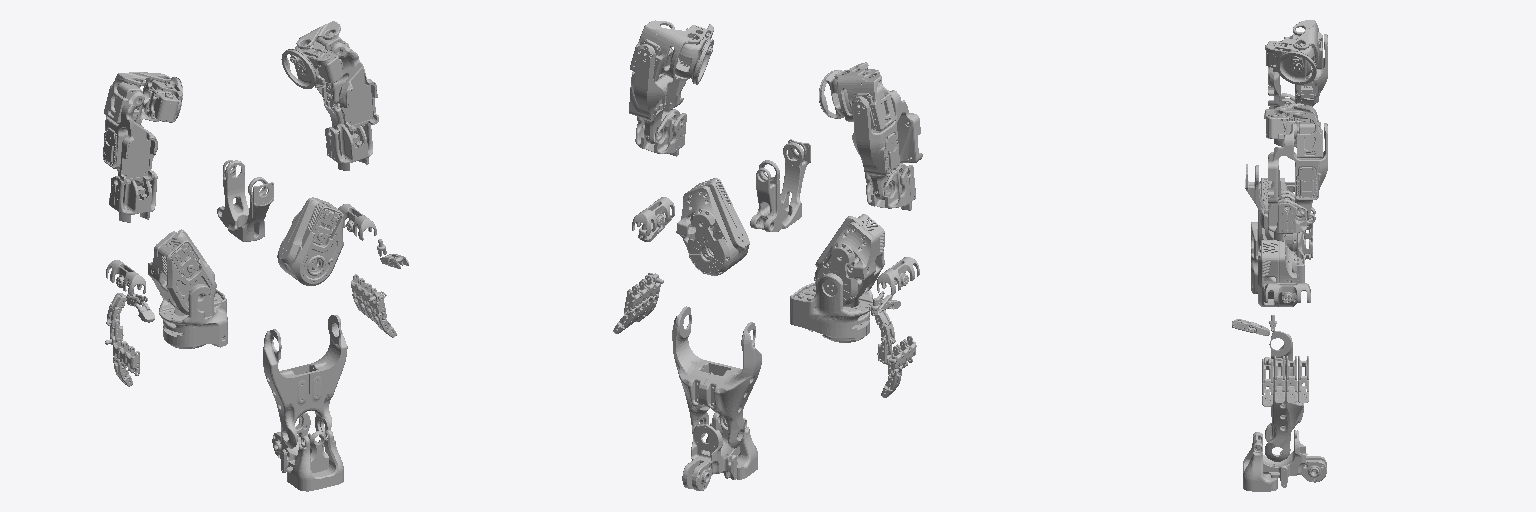
--- Render facts (derived) ---
The picture shows the robot from 3 angles, left to right: view 1: azimuth 30°, elevation 25°; view 2: azimuth 150°, elevation 25°; view 3: azimuth 270°, elevation 25°; orthographic projection.
Model CLOVIS25_URDF_Assembly_V1_With_Arms with 56 links and 55 joints (54 revolute, 1 fixed), rooted at base_link_R0_HipsWaist_Yaw, posed every joint at zero.
Links seen in each view (by area): view 1: Link13_AxisRy_Knee_Flexion, Link10_AxisRy_Hips_Flexion, Link15_AxisRx_Ankle_Abduction, Link20_AxisRy_Hips_Flexion, Link21_AxisRx_Hips_Abduction, Link42_AxisRx_Shoulder_Abduction, Link32_AxisRx_Shoulder_Abduction, LinkR0_AxisRz_Waist_Yaw, Link30_AxisRy_Shoulder_Flexion, Link33_AxisRy_Elbow_Flexion, Link43_AxisRy_Elbow_Flexion, Link41_AxisRz_Shoulder_Rotation (+4 smaller); view 2: Link13_AxisRy_Knee_Flexion, Link10_AxisRy_Hips_Flexion, Link42_AxisRx_Shoulder_Abduction, Link20_AxisRy_Hips_Flexion, Link21_AxisRx_Hips_Abduction, Link15_AxisRx_Ankle_Abduction, LinkR0_AxisRz_Waist_Yaw, Link32_AxisRx_Shoulder_Abduction, Link41_AxisRz_Shoulder_Rotation, Link31_AxisRz_Shoulder_Rotation, Link33_AxisRy_Elbow_Flexion, Link43_AxisRy_Elbow_Flexion (+4 smaller); view 3: Link15_AxisRx_Ankle_Abduction, Link32_AxisRx_Shoulder_Abduction, Link13_AxisRy_Knee_Flexion, Link10_AxisRy_Hips_Flexion, Link40_AxisRy_Shoulder_Flexion, Link42_AxisRx_Shoulder_Abduction, Link33_AxisRy_Elbow_Flexion, Link31_AxisRz_Shoulder_Rotation, Link30_AxisRy_Shoulder_Flexion, Link21_AxisRx_Hips_Abduction, Link41_AxisRz_Shoulder_Rotation, Link20_AxisRy_Hips_Flexion (+2 smaller).
Link boxes in pixels (x1=…): Link13_AxisRy_Knee_Flexion: x1=263, y1=315, x2=347, y2=448; Link10_AxisRy_Hips_Flexion: x1=277, y1=197, x2=343, y2=285; Link15_AxisRx_Ankle_Abduction: x1=272, y1=412, x2=343, y2=491; Link20_AxisRy_Hips_Flexion: x1=148, y1=229, x2=216, y2=314; Link21_AxisRx_Hips_Abduction: x1=159, y1=284, x2=227, y2=348; Link42_AxisRx_Shoulder_Abduction: x1=103, y1=82, x2=157, y2=185; Link32_AxisRx_Shoulder_Abduction: x1=315, y1=42, x2=378, y2=134; LinkR0_AxisRz_Waist_Yaw: x1=217, y1=160, x2=273, y2=241; Link30_AxisRy_Shoulder_Flexion: x1=281, y1=41, x2=343, y2=88; Link33_AxisRy_Elbow_Flexion: x1=325, y1=123, x2=372, y2=170; Link43_AxisRy_Elbow_Flexion: x1=109, y1=171, x2=157, y2=222; Link41_AxisRz_Shoulder_Rotation: x1=104, y1=72, x2=170, y2=124; Link13_AxisRy_Knee_Flexion: x1=672, y1=306, x2=761, y2=448; Link10_AxisRy_Hips_Flexion: x1=676, y1=178, x2=749, y2=275; Link42_AxisRx_Shoulder_Abduction: x1=852, y1=83, x2=922, y2=199; Link20_AxisRy_Hips_Flexion: x1=814, y1=214, x2=884, y2=306; Link21_AxisRx_Hips_Abduction: x1=790, y1=273, x2=872, y2=342; Link15_AxisRx_Ankle_Abduction: x1=682, y1=412, x2=757, y2=490; LinkR0_AxisRz_Waist_Yaw: x1=750, y1=139, x2=810, y2=231; Link32_AxisRx_Shoulder_Abduction: x1=629, y1=44, x2=685, y2=143; Link41_AxisRz_Shoulder_Rotation: x1=834, y1=70, x2=895, y2=130; Link31_AxisRz_Shoulder_Rotation: x1=630, y1=20, x2=700, y2=81; Link33_AxisRy_Elbow_Flexion: x1=635, y1=109, x2=686, y2=156; Link43_AxisRy_Elbow_Flexion: x1=865, y1=163, x2=915, y2=210; Link15_AxisRx_Ankle_Abduction: x1=1243, y1=430, x2=1326, y2=491; Link32_AxisRx_Shoulder_Abduction: x1=1268, y1=123, x2=1327, y2=219; Link13_AxisRy_Knee_Flexion: x1=1265, y1=331, x2=1303, y2=461; Link10_AxisRy_Hips_Flexion: x1=1258, y1=239, x2=1296, y2=306; Link40_AxisRy_Shoulder_Flexion: x1=1265, y1=39, x2=1316, y2=84; Link42_AxisRx_Shoulder_Abduction: x1=1268, y1=34, x2=1327, y2=108; Link33_AxisRy_Elbow_Flexion: x1=1264, y1=190, x2=1306, y2=241; Link31_AxisRz_Shoulder_Rotation: x1=1293, y1=105, x2=1322, y2=157; Link30_AxisRy_Shoulder_Flexion: x1=1265, y1=103, x2=1309, y2=143; Link21_AxisRx_Hips_Abduction: x1=1251, y1=222, x2=1304, y2=293; Link41_AxisRz_Shoulder_Rotation: x1=1293, y1=20, x2=1322, y2=77; Link20_AxisRy_Hips_Flexion: x1=1258, y1=178, x2=1296, y2=252.
Size in the robot's own frame: 0.423 by 0.1447 by 0.6374 metres.
40 mesh visuals loaded from 56 distinct referenced files (40 binary STL); not drawn: 16 (reference not matched to a file when rendering).

robot.urdf — CLOVIS25_URDF_Assembly_V1_With_Arms:
<?xml version="1.0" encoding="utf-8"?>
<!-- This URDF was automatically created by SolidWorks to URDF Exporter! Originally created by Stephen Brawner ([email redacted]) 
     Commit Version: 1.6.0-4-g7f85cfe  Build Version: 1.6.7995.38578
     For more information, please see http://wiki.ros.org/sw_urdf_exporter -->
<robot
  name="CLOVIS25_URDF_Assembly_V1_With_Arms">
  <link
    name="base_link_R0_HipsWaist_Yaw">
    <inertial>
      <origin
        xyz="-5.06849795024474E-07 0.00646210878121356 -0.00735619477677179"
        rpy="0 0 0" />
      <mass
        value="0.387437520077023" />
      <inertia
        ixx="0.000602004181073715"
        ixy="-3.93523719188462E-09"
        ixz="8.4131146427588E-09"
        iyy="0.00055466319918311"
        iyz="0.000144231027663687"
        izz="0.00059139342226567" />
    </inertial>
    <visual>
      <origin
        xyz="0 0 0"
        rpy="0 0 0" />
      <geometry>
        <mesh
          filename="package://CLOVIS25_URDF_Assembly_V1_With_Arms/meshes/base_link_R0_HipsWaist_Yaw.STL" />
      </geometry>
      <material
        name="">
        <color
          rgba="0.752941176470588 0.752941176470588 0.752941176470588 1" />
      </material>
    </visual>
    <collision>
      <origin
        xyz="0 0 0"
        rpy="0 0 0" />
      <geometry>
        <mesh
          filename="package://CLOVIS25_URDF_Assembly_V1_With_Arms/meshes/base_link_R0_HipsWaist_Yaw.STL" />
      </geometry>
    </collision>
  </link>
  <link
    name="LinkR0_AxisRz_Waist_Yaw">
    <inertial>
      <origin
        xyz="1.46812364558688E-08 0.00792255367963899 0.0328105533698633"
        rpy="0 0 0" />
      <mass
        value="0.0743770113903966" />
      <inertia
        ixx="0.000109844902331301"
        ixy="6.43572844078283E-11"
        ixz="1.80691197731371E-11"
        iyy="5.27744826789087E-05"
        iyz="8.66811215600059E-06"
        izz="6.86185978836166E-05" />
    </inertial>
    <visual>
      <origin
        xyz="0 0 0"
        rpy="0 0 0" />
      <geometry>
        <mesh
          filename="package://CLOVIS25_URDF_Assembly_V1_With_Arms/meshes/LinkR0_AxisRz_Waist_Yaw.STL" />
      </geometry>
      <material
        name="">
        <color
          rgba="0.752941176470588 0.752941176470588 0.752941176470588 1" />
      </material>
    </visual>
    <collision>
      <origin
        xyz="0 0 0"
        rpy="0 0 0" />
      <geometry>
        <mesh
          filename="package://CLOVIS25_URDF_Assembly_V1_With_Arms/meshes/LinkR0_AxisRz_Waist_Yaw.STL" />
      </geometry>
    </collision>
  </link>
  <joint
    name="R0_AxisRz_Waist_Yaw"
    type="revolute">
    <origin
      xyz="0 0 0"
      rpy="0 0 0" />
    <parent
      link="base_link_R0_HipsWaist_Yaw" />
    <child
      link="LinkR0_AxisRz_Waist_Yaw" />
    <axis
      xyz="0 0 1" />
    <limit
      lower="-0.611"
      upper="0.611"
      effort="3.66"
      velocity="5.05" />
  </joint>
  <link
    name="Link1_AxisRx_Abs_Roll">
    <inertial>
      <origin
        xyz="-0.000419037666758958 -8.6704448896009E-06 0.00334728947605598"
        rpy="0 0 0" />
      <mass
        value="0.0285702910432507" />
      <inertia
        ixx="7.08725803682832E-06"
        ixy="-2.4583009930987E-09"
        ixz="-4.77409616773001E-08"
        iyy="2.32521875946385E-05"
        iyz="-1.59332092975714E-09"
        izz="2.62164733137172E-05" />
    </inertial>
    <visual>
      <origin
        xyz="0 0 0"
        rpy="0 0 0" />
      <geometry>
        <mesh
          filename="package://CLOVIS25_URDF_Assembly_V1_With_Arms/meshes/Link1_AxisRx_Abs_Roll.STL" />
      </geometry>
      <material
        name="">
        <color
          rgba="0.698039215686274 0.698039215686274 0.698039215686274 1" />
      </material>
    </visual>
    <collision>
      <origin
        xyz="0 0 0"
        rpy="0 0 0" />
      <geometry>
        <mesh
          filename="package://CLOVIS25_URDF_Assembly_V1_With_Arms/meshes/Link1_AxisRx_Abs_Roll.STL" />
      </geometry>
    </collision>
  </link>
  <joint
    name="R1_AxisRx_Abs_Roll"
    type="revolute">
    <origin
      xyz="0 0 0.0830000000000002"
      rpy="0 0 1.5707963267949" />
    <parent
      link="LinkR0_AxisRz_Waist_Yaw" />
    <child
      link="Link1_AxisRx_Abs_Roll" />
    <axis
      xyz="-1 0 0" />
    <limit
      lower="-0.524"
      upper="0.524"
      effort="3.66"
      velocity="5.05" />
  </joint>
  <link
    name="Link2_AxisRy_Abs_Pitch">
    <inertial>
      <origin
        xyz="0.0116502060780708 0.000444779964340122 0.0990057210700123"
        rpy="0 0 0" />
      <mass
        value="1.76579053635958" />
      <inertia
        ixx="0.00272833882633648"
        ixy="-2.20597482402931E-07"
        ixz="8.18805229038268E-05"
        iyy="0.00286417553448298"
        iyz="4.10931314151063E-07"
        izz="0.00262213593870311" />
    </inertial>
    <visual>
      <origin
        xyz="0 0 0"
        rpy="0 0 0" />
      <geometry>
        <mesh
          filename="package://CLOVIS25_URDF_Assembly_V1_With_Arms/meshes/Link2_AxisRy_Abs_Pitch.STL" />
      </geometry>
      <material
        name="">
        <color
          rgba="0.752941176470588 0.752941176470588 0.752941176470588 1" />
      </material>
    </visual>
    <collision>
      <origin
        xyz="0 0 0"
        rpy="0 0 0" />
      <geometry>
        <mesh
          filename="package://CLOVIS25_URDF_Assembly_V1_With_Arms/meshes/Link2_AxisRy_Abs_Pitch.STL" />
      </geometry>
    </collision>
  </link>
  <joint
    name="R2_AxisRy_Abs_Pitch"
    type="revolute">
    <origin
      xyz="0 0 0"
      rpy="0 0 0" />
    <parent
      link="Link1_AxisRx_Abs_Roll" />
    <child
      link="Link2_AxisRy_Abs_Pitch" />
    <axis
      xyz="0 -1 0" />
    <limit
      lower="-0.689"
      upper="0.785"
      effort="3.66"
      velocity="5.05" />
  </joint>
  <link
    name="Link30_AxisRy_Shoulder_Flexion">
    <inertial>
      <origin
        xyz="-0.00121122068029511 -0.00325038069237409 0.01205449037587"
        rpy="0 0 0" />
      <mass
        value="0.0372580129564287" />
      <inertia
        ixx="1.59289940590296E-05"
        ixy="-1.20792454995667E-06"
        ixz="-4.7940507230333E-07"
        iyy="1.6393396994726E-05"
        iyz="-8.0278671679873E-07"
        izz="2.03149646905184E-05" />
    </inertial>
    <visual>
      <origin
        xyz="0 0 0"
        rpy="0 0 0" />
      <geometry>
        <mesh
          filename="package://CLOVIS25_URDF_Assembly_V1_With_Arms/meshes/Link30_AxisRy_Shoulder_Flexion.STL" />
      </geometry>
      <material
        name="">
        <color
          rgba="0.752941176470588 0.752941176470588 0.752941176470588 1" />
      </material>
    </visual>
    <collision>
      <origin
        xyz="0 0 0"
        rpy="0 0 0" />
      <geometry>
        <mesh
          filename="package://CLOVIS25_URDF_Assembly_V1_With_Arms/meshes/Link30_AxisRy_Shoulder_Flexion.STL" />
      </geometry>
    </collision>
  </link>
  <joint
    name="R30_AxisRy_Shoulder_Flexion"
    type="revolute">
    <origin
      xyz="0.0289259399205682 -0.101367916470833 0.130853241275273"
      rpy="-0.252680255142087 1.30019891167267 -1.5707963267949" />
    <parent
      link="Link2_AxisRy_Abs_Pitch" />
    <child
      link="Link30_AxisRy_Shoulder_Flexion" />
    <axis
      xyz="0 0 1" />
    <limit
      lower="0"
      upper="0"
      effort="0"
      velocity="0" />
  </joint>
  <link
    name="Link31_AxisRz_Shoulder_Rotation">
    <inertial>
      <origin
        xyz="0.0310376632963733 0.0149615998455135 -0.00284843103933208"
        rpy="0 0 0" />
      <mass
        value="0.0306387760752888" />
      <inertia
        ixx="1.91180450287481E-05"
        ixy="-2.81655737035407E-07"
        ixz="8.43328137709067E-07"
        iyy="2.64927352089561E-05"
        iyz="-1.49756484162896E-07"
        izz="1.4496990488765E-05" />
    </inertial>
    <visual>
      <origin
        xyz="0 0 0"
        rpy="0 0 0" />
      <geometry>
        <mesh
          filename="package://CLOVIS25_URDF_Assembly_V1_With_Arms/meshes/Link31_AxisRz_Shoulder_Rotation.STL" />
      </geometry>
      <material
        name="">
        <color
          rgba="0.752941176470588 0.752941176470588 0.752941176470588 1" />
      </material>
    </visual>
    <collision>
      <origin
        xyz="0 0 0"
        rpy="0 0 0" />
      <geometry>
        <mesh
          filename="package://CLOVIS25_URDF_Assembly_V1_With_Arms/meshes/Link31_AxisRz_Shoulder_Rotation.STL" />
      </geometry>
    </collision>
  </link>
  <joint
    name="R31_AxisRz_Shoulder_Rotation"
    type="revolute">
    <origin
      xyz="0 0 0.0185"
      rpy="1.5708 -1.3181 -1.5708" />
    <parent
      link="Link30_AxisRy_Shoulder_Flexion" />
    <child
      link="Link31_AxisRz_Shoulder_Rotation" />
    <axis
      xyz="0 0 -1" />
    <limit
      lower="0"
      upper="0"
      effort="0"
      velocity="0" />
  </joint>
  <link
    name="Link32_AxisRx_Shoulder_Abduction">
    <inertial>
      <origin
        xyz="0.0104532597532089 0.062163437123838 -0.0367102436834052"
        rpy="0 0 0" />
      <mass
        value="0.102687647828558" />
      <inertia
        ixx="0.000190390945399026"
        ixy="-3.56957903134248E-06"
        ixz="8.37982643800101E-06"
        iyy="8.95092176175717E-05"
        iyz="1.36359033600638E-05"
        izz="0.000128468014081588" />
    </inertial>
    <visual>
      <origin
        xyz="0 0 0"
        rpy="0 0 0" />
      <geometry>
        <mesh
          filename="package://CLOVIS25_URDF_Assembly_V1_With_Arms/meshes/Link32_AxisRx_Shoulder_Abduction.STL" />
      </geometry>
      <material
        name="">
        <color
          rgba="0.752941176470588 0.752941176470588 0.752941176470588 1" />
      </material>
    </visual>
    <collision>
      <origin
        xyz="0 0 0"
        rpy="0 0 0" />
      <geometry>
        <mesh
          filename="package://CLOVIS25_URDF_Assembly_V1_With_Arms/meshes/Link32_AxisRx_Shoulder_Abduction.STL" />
      </geometry>
    </collision>
  </link>
  <joint
    name="R32_AxisRx_Shoulder_Abduction"
    type="revolute">
    <origin
      xyz="0.04 0.035 -2.7028E-05"
      rpy="-1.5708 0.2706 0" />
    <parent
      link="Link31_AxisRz_Shoulder_Rotation" />
    <child
      link="Link32_AxisRx_Shoulder_Abduction" />
    <axis
      xyz="0 0 -1" />
    <limit
      lower="0"
      upper="0"
      effort="0"
      velocity="0" />
  </joint>
  <link
    name="Link33_AxisRy_Elbow_Flexion">
    <inertial>
      <origin
        xyz="-0.00807277244123876 -0.0218914344069931 2.79389832824606E-07"
        rpy="0 0 0" />
      <mass
        value="0.062525137315617" />
      <inertia
        ixx="2.66478352150102E-05"
        ixy="6.31835903644819E-07"
        ixz="-3.71122215374951E-11"
        iyy="2.90857173843087E-05"
        iyz="-2.29744106491836E-10"
        izz="2.16871210520696E-05" />
    </inertial>
    <visual>
      <origin
        xyz="0 0 0"
        rpy="0 0 0" />
      <geometry>
        <mesh
          filename="package://CLOVIS25_URDF_Assembly_V1_With_Arms/meshes/Link33_AxisRy_Elbow_Flexion.STL" />
      </geometry>
      <material
        name="">
        <color
          rgba="0.752941176470588 0.752941176470588 0.752941176470588 1" />
      </material>
    </visual>
    <collision>
      <origin
        xyz="0 0 0"
        rpy="0 0 0" />
      <geometry>
        <mesh
          filename="package://CLOVIS25_URDF_Assembly_V1_With_Arms/meshes/Link33_AxisRy_Elbow_Flexion.STL" />
      </geometry>
    </collision>
  </link>
  <joint
    name="R33_AxisRy_Elbow_Flexion"
    type="revolute">
    <origin
      xyz="0.0113302428061854 0.129505311080098 -0.035"
      rpy="1.5707963267949 0 -1.65806278939461" />
    <parent
      link="Link32_AxisRx_Shoulder_Abduction" />
    <child
      link="Link33_AxisRy_Elbow_Flexion" />
    <axis
      xyz="0 0 -1" />
    <limit
      lower="0"
      upper="0"
      effort="0"
      velocity="0" />
  </joint>
  <link
    name="Link34_AxisRz_Wrist_Rotation">
    <inertial>
      <origin
        xyz="0.000526763744020858 0.000899599310191115 -0.0255225516370474"
        rpy="0 0 0" />
      <mass
        value="0.095705310536798" />
      <inertia
        ixx="5.31202839633432E-05"
        ixy="-5.32218440986211E-08"
        ixz="1.77417951512435E-07"
        iyy="5.30307409761996E-05"
        iyz="1.14726761693416E-06"
        izz="3.79616505903231E-05" />
    </inertial>
    <visual>
      <origin
        xyz="0 0 0"
        rpy="0 0 0" />
      <geometry>
        <mesh
          filename="package://CLOVIS25_URDF_Assembly_V1_With_Arms/meshes/Link34_AxisRz_Wrist_Rotation.STL" />
      </geometry>
      <material
        name="">
        <color
          rgba="0.752941176470588 0.752941176470588 0.752941176470588 1" />
      </material>
    </visual>
    <collision>
      <origin
        xyz="0 0 0"
        rpy="0 0 0" />
      <geometry>
        <mesh
          filename="package://CLOVIS25_URDF_Assembly_V1_With_Arms/meshes/Link34_AxisRz_Wrist_Rotation.STL" />
      </geometry>
    </collision>
  </link>
  <joint
    name="R34_AxisRz_Wrist_Rotation"
    type="revolute">
    <origin
      xyz="-0.0399999999999999 -0.019 0"
      rpy="0 1.5707963267949 0" />
    <parent
      link="Link33_AxisRy_Elbow_Flexion" />
    <child
      link="Link34_AxisRz_Wrist_Rotation" />
    <axis
      xyz="0 0 -1" />
    <limit
      lower="0"
      upper="0"
      effort="0"
      velocity="0" />
  </joint>
  <link
    name="Link35_AxisRx_Wrist_Abduction">
    <inertial>
      <origin
        xyz="0.00813435863366127 -4.05206365898525E-07 5.46147126134766E-08"
        rpy="0 0 0" />
      <mass
        value="0.0129110778126474" />
      <inertia
        ixx="5.34580369587511E-06"
        ixy="-1.03772626655587E-10"
        ixz="6.3430733622055E-11"
        iyy="1.41876387165846E-06"
        iyz="-1.77315332019497E-11"
        izz="5.32098561653815E-06" />
    </inertial>
    <visual>
      <origin
        xyz="0 0 0"
        rpy="0 0 0" />
      <geometry>
        <mesh
          filename="package://CLOVIS25_URDF_Assembly_V1_With_Arms/meshes/Link35_AxisRx_Wrist_Abduction.STL" />
      </geometry>
      <material
        name="">
        <color
          rgba="0.752941176470588 0.752941176470588 0.752941176470588 1" />
      </material>
    </visual>
    <collision>
      <origin
        xyz="0 0 0"
        rpy="0 0 0" />
      <geometry>
        <mesh
          filename="package://CLOVIS25_URDF_Assembly_V1_With_Arms/meshes/Link35_AxisRx_Wrist_Abduction.STL" />
      </geometry>
    </collision>
  </link>
  <joint
    name="R35_AxisRx_Wrist_Abduction"
    type="revolute">
    <origin
      xyz="0 0 -0.093138"
      rpy="3.1416 -1.5708 0" />
    <parent
      link="Link34_AxisRz_Wrist_Rotation" />
    <child
      link="Link35_AxisRx_Wrist_Abduction" />
    <axis
      xyz="0 0 -1" />
    <limit
      lower="0"
      upper="0"
      effort="0"
      velocity="0" />
  </joint>
  <link
    name="Link36_AxisRy_Wrist_Flexion">
    <inertial>
      <origin
        xyz="-0.00278270226153091 0.0506978853954701 -0.000512408108588609"
        rpy="0 0 0" />
      <mass
        value="0.0948668355723175" />
      <inertia
        ixx="6.39849613421153E-05"
        ixy="5.73647920860369E-06"
        ixz="3.49414578842124E-06"
        iyy="2.95679718312657E-05"
        iyz="-7.83640400278746E-06"
        izz="4.67669259633923E-05" />
    </inertial>
    <visual>
      <origin
        xyz="0 0 0"
        rpy="0 0 0" />
      <geometry>
        <mesh
          filename="package://CLOVIS25_URDF_Assembly_V1_With_Arms/meshes/Link36_AxisRy_Wrist_Flexion.STL" />
      </geometry>
      <material
        name="">
        <color
          rgba="0.752941176470588 0.752941176470588 0.752941176470588 1" />
      </material>
    </visual>
    <collision>
      <origin
        xyz="0 0 0"
        rpy="0 0 0" />
      <geometry>
        <mesh
          filename="package://CLOVIS25_URDF_Assembly_V1_With_Arms/meshes/Link36_AxisRy_Wrist_Flexion.STL" />
      </geometry>
    </collision>
  </link>
  <joint
    name="R36_AxisRy_Wrist_Flexion"
    type="revolute">
    <origin
      xyz="0 0 0"
      rpy="1.5708 -1.4835 0" />
    <parent
      link="Link35_AxisRx_Wrist_Abduction" />
    <child
      link="Link36_AxisRy_Wrist_Flexion" />
    <axis
      xyz="0 0 -1" />
    <limit
      lower="0"
      upper="0"
      effort="0"
      velocity="0" />
  </joint>
  <link
    name="Link51_AxisRz_ThumbKnucle_Rotation">
    <inertial>
      <origin
        xyz="-4.91409359870687E-08 -0.000121891601792302 0.00201210065266348"
        rpy="0 0 0" />
      <mass
        value="0.00115968038152584" />
      <inertia
        ixx="4.03439585122942E-08"
        ixy="-2.3926872441935E-13"
        ixz="-3.87054840494303E-14"
        iyy="4.18267857957113E-08"
        iyz="-4.02150632626583E-10"
        izz="1.66744809622269E-08" />
    </inertial>
    <visual>
      <origin
        xyz="0 0 0"
        rpy="0 0 0" />
      <geometry>
        <mesh
          filename="package://CLOVIS25_URDF_Assembly_V1_With_Arms/meshes/Link51_AxisRz_ThumbKnucle_Rotation.STL" />
      </geometry>
      <material
        name="">
        <color
          rgba="0.752941176470588 0.752941176470588 0.752941176470588 1" />
      </material>
    </visual>
    <collision>
      <origin
        xyz="0 0 0"
        rpy="0 0 0" />
      <geometry>
        <mesh
          filename="package://CLOVIS25_URDF_Assembly_V1_With_Arms/meshes/Link51_AxisRz_ThumbKnucle_Rotation.STL" />
      </geometry>
    </collision>
  </link>
  <joint
    name="R51_AxisRz_ThumbKnucle_Rotation"
    type="revolute">
    <origin
      xyz="0.020899 0.0382 -0.021786"
      rpy="-1.5708 0 3.1416" />
    <parent
      link="Link36_AxisRy_Wrist_Flexion" />
    <child
      link="Link51_AxisRz_ThumbKnucle_Rotation" />
    <axis
      xyz="0 0 -1" />
    <limit
      lower="0"
      upper="0"
      effort="0"
      velocity="0" />
  </joint>
  <link
    name="Link52_AxisRy_ThumbKnucle_Flexion">
    <inertial>
      <origin
        xyz="0.00616866200396485 -0.0146131442688382 -8.87240666769262E-08"
        rpy="0 0 0" />
      <mass
        value="0.00310333576369739" />
      <inertia
        ixx="2.79345952527214E-07"
        ixy="5.45699827270721E-08"
        ixz="1.93583934066063E-12"
        iyy="1.60619700743413E-07"
        iyz="-1.82698794798632E-12"
        izz="2.38435467591494E-07" />
    </inertial>
    <visual>
      <origin
        xyz="0 0 0"
        rpy="0 0 0" />
      <geometry>
        <mesh
          filename="package://CLOVIS25_URDF_Assembly_V1_With_Arms/meshes/Link52_AxisRy_ThumbKnucle_Flexion.STL" />
      </geometry>
      <material
        name="">
        <color
          rgba="0.752941176470588 0.752941176470588 0.752941176470588 1" />
      </material>
    </visual>
    <collision>
      <origin
        xyz="0 0 0"
        rpy="0 0 0" />
      <geometry>
        <mesh
          filename="package://CLOVIS25_URDF_Assembly_V1_With_Arms/meshes/Link52_AxisRy_ThumbKnucle_Flexion.STL" />
      </geometry>
    </collision>
  </link>
  <joint
    name="R52_AxisRy_ThumbKnucle_Flexion"
    type="revolute">
    <origin
      xyz="0 0.028971 -0.0077892"
      rpy="3.1416 -1.5708 0" />
    <parent
      link="Link51_AxisRz_ThumbKnucle_Rotation" />
    <child
      link="Link52_AxisRy_ThumbKnucle_Flexion" />
    <axis
      xyz="0 0 1" />
    <limit
      lower="0"
      upper="0"
      effort="0"
      velocity="0" />
  </joint>
  <link
    name="Link53_AxisRy_Thumb_Flexion">
    <inertial>
      <origin
        xyz="7.16902495655203E-05 0.00984633190079492 -0.000109122506525783"
        rpy="0 0 0" />
      <mass
        value="0.00389502563585412" />
      <inertia
        ixx="3.31740758410829E-07"
        ixy="8.52234616085918E-08"
        ixz="-3.03665120916498E-10"
        iyy="1.48960518802376E-07"
        iyz="8.3187693987597E-10"
        izz="3.11286681941714E-07" />
    </inertial>
    <visual>
      <origin
        xyz="0 0 0"
        rpy="0 0 0" />
      <geometry>
        <mesh
          filename="package://CLOVIS25_URDF_Assembly_V1_With_Arms/meshes/Link53_AxisRy_Thumb_Flexion.STL" />
      </geometry>
      <material
        name="">
        <color
          rgba="0.752941176470588 0.752941176470588 0.752941176470588 1" />
      </material>
    </visual>
    <collision>
      <origin
        xyz="0 0 0"
        rpy="0 0 0" />
      <geometry>
        <mesh
          filename="package://CLOVIS25_URDF_Assembly_V1_With_Arms/meshes/Link53_AxisRy_Thumb_Flexion.STL" />
      </geometry>
    </collision>
  </link>
  <joint
    name="R53_AxisRy_Thumb_Flexion"
    type="revolute">
    <origin
      xyz="0 0 0"
      rpy="0 0 0" />
    <parent
      link="Link52_AxisRy_ThumbKnucle_Flexion" />
    <child
      link="Link53_AxisRy_Thumb_Flexion" />
    <axis
      xyz="0 0 -1" />
    <limit
      lower="0"
      upper="0"
      effort="0"
      velocity="0" />
  </joint>
  <link
    name="Link54_AxisRx_IndexKnucle_Abduction">
    <inertial>
      <origin
        xyz="0.000121891601791602 4.914092399666E-08 -0.00201210065265253"
        rpy="0 0 0" />
      <mass
        value="0.00115968038152584" />
      <inertia
        ixx="4.18267857957199E-08"
        ixy="-2.39268722725486E-13"
        ixz="-4.02150632623775E-10"
        iyy="4.03439585123012E-08"
        iyz="-3.87054859986977E-14"
        izz="1.66744809622338E-08" />
    </inertial>
    <visual>
      <origin
        xyz="0 0 0"
        rpy="0 0 0" />
      <geometry>
        <mesh
          filename="package://CLOVIS25_URDF_Assembly_V1_With_Arms/meshes/Link54_AxisRx_IndexKnucle_Abduction.STL" />
      </geometry>
      <material
        name="">
        <color
          rgba="0.752941176470588 0.752941176470588 0.752941176470588 1" />
      </material>
    </visual>
    <collision>
      <origin
        xyz="0 0 0"
        rpy="0 0 0" />
      <geometry>
        <mesh
          filename="package://CLOVIS25_URDF_Assembly_V1_With_Arms/meshes/Link54_AxisRx_IndexKnucle_Abduction.STL" />
      </geometry>
    </collision>
  </link>
  <joint
    name="R54_AxisRx_IndexKnucle_Abduction"
    type="revolute">
    <origin
      xyz="0 0.10071 -0.03"
      rpy="-1.5708 0 -1.5708" />
    <parent
      link="Link36_AxisRy_Wrist_Flexion" />
    <child
      link="Link54_AxisRx_IndexKnucle_Abduction" />
    <axis
      xyz="0 0 -1" />
    <limit
      lower="0"
      upper="0"
      effort="0"
      velocity="0" />
  </joint>
  <link
    name="Link55_AxisRy_IndexKnucle_Flexion">
    <inertial>
      <origin
        xyz="-0.00211406335375969 0.0145062489951216 -4.40290241765506E-09"
        rpy="0 0 0" />
      <mass
        value="0.00305079596232099" />
      <inertia
        ixx="2.87529730754127E-07"
        ixy="-1.55515958091936E-08"
        ixz="-1.24036019454895E-13"
        iyy="1.38377543503246E-07"
        iyz="-3.76599756784399E-13"
        izz="2.29166032829361E-07" />
    </inertial>
    <visual>
      <origin
        xyz="0 0 0"
        rpy="0 0 0" />
      <geometry>
        <mesh
          filename="package://CLOVIS25_URDF_Assembly_V1_With_Arms/meshes/Link55_AxisRy_IndexKnucle_Flexion.STL" />
      </geometry>
      <material
        name="">
        <color
          rgba="0.752941176470588 0.752941176470588 0.752941176470588 1" />
      </material>
    </visual>
    <collision>
      <origin
        xyz="0 0 0"
        rpy="0 0 0" />
      <geometry>
        <mesh
          filename="package://CLOVIS25_URDF_Assembly_V1_With_Arms/meshes/Link55_AxisRy_IndexKnucle_Flexion.STL" />
      </geometry>
    </collision>
  </link>
  <joint
    name="R55_AxisRy_IndexKnucle_Flexion"
    type="revolute">
    <origin
      xyz="0 0 0"
      rpy="1.5708 -1.5708 0" />
    <parent
      link="Link54_AxisRx_IndexKnucle_Abduction" />
    <child
      link="Link55_AxisRy_IndexKnucle_Flexion" />
    <axis
      xyz="0 0 -1" />
    <limit
      lower="0"
      upper="0"
      effort="0"
      velocity="0" />
  </joint>
  <link
    name="Link56_AxisRy_IndexMiddle_Flexion">
    <inertial>
      <origin
        xyz="0.00240152083458003 0.00654385041932792 -7.7800487937256E-05"
        rpy="0 0 0" />
      <mass
        value="0.00237461021631888" />
      <inertia
        ixx="1.93784109250359E-07"
        ixy="1.60821542165143E-08"
        ixz="7.9586171499932E-11"
        iyy="9.31756219047224E-08"
        iyz="3.55124367944556E-10"
        izz="1.51786468172035E-07" />
    </inertial>
    <visual>
      <origin
        xyz="0 0 0"
        rpy="0 0 0" />
      <geometry>
        <mesh
          filename="package://CLOVIS25_URDF_Assembly_V1_With_Arms/meshes/Link56_AxisRy_IndexMiddle_Flexion.STL" />
      </geometry>
      <material
        name="">
        <color
          rgba="0.752941176470588 0.752941176470588 0.752941176470588 1" />
      </material>
    </visual>
    <collision>
      <origin
        xyz="0 0 0"
        rpy="0 0 0" />
      <geometry>
        <mesh
          filename="package://CLOVIS25_URDF_Assembly_V1_With_Arms/meshes/Link56_AxisRy_IndexMiddle_Flexion.STL" />
      </geometry>
    </collision>
  </link>
  <joint
    name="R56_AxisRy_IndexMiddle_Flexion"
    type="revolute">
    <origin
      xyz="0 0.03 0"
      rpy="-3.1416 0 3.1416" />
    <parent
      link="Link55_AxisRy_IndexKnucle_Flexion" />
    <child
      link="Link56_AxisRy_IndexMiddle_Flexion" />
    <axis
      xyz="0 0 -1" />
    <limit
      lower="0"
      upper="0"
      effort="0"
      velocity="0" />
  </joint>
  <link
    name="Link57_AxisRy_IndexTip_Flexion">
    <inertial>
      <origin
        xyz="-0.0055511693115998 0.00681823871642107 -2.21893248197186E-06"
        rpy="0 0 0" />
      <mass
        value="0.00253828371370102" />
      <inertia
        ixx="1.28437698390913E-07"
        ixy="2.58021659424518E-08"
        ixz="7.27690086494829E-12"
        iyy="8.57012975056649E-08"
        iyz="-6.3136370901294E-11"
        izz="1.10632726364156E-07" />
    </inertial>
    <visual>
      <origin
        xyz="0 0 0"
        rpy="0 0 0" />
      <geometry>
        <mesh
          filename="package://CLOVIS25_URDF_Assembly_V1_With_Arms/meshes/Link57_AxisRy_IndexTip_Flexion.STL" />
      </geometry>
      <material
        name="">
        <color
          rgba="0.752941176470588 0.752941176470588 0.752941176470588 1" />
      </material>
    </visual>
    <collision>
      <origin
        xyz="0 0 0"
        rpy="0 0 0" />
      <geometry>
        <mesh
          filename="package://CLOVIS25_URDF_Assembly_V1_With_Arms/meshes/Link57_AxisRy_IndexTip_Flexion.STL" />
      </geometry>
    </collision>
  </link>
  <joint
    name="R57_AxisRy_IndexTip_Flexion"
    type="revolute">
    <origin
      xyz="-0.00093853 0.018977 -0.0001"
      rpy="0 0 0" />
    <parent
      link="Link56_AxisRy_IndexMiddle_Flexion" />
    <child
      link="Link57_AxisRy_IndexTip_Flexion" />
    <axis
      xyz="0 0 -1" />
    <limit
      lower="0"
      upper="0"
      effort="0"
      velocity="0" />
  </joint>
  <link
    name="Link58_AxisRy_MiddleFingerKnucle_Flexion">
    <inertial>
      <origin
        xyz="-0.00211406335375613 0.0145062489951233 -4.4029032260362E-09"
        rpy="0 0 0" />
      <mass
        value="0.00305079596232099" />
      <inertia
        ixx="2.87529730754109E-07"
        ixy="-1.55515958091894E-08"
        ixz="-1.24036018072133E-13"
        iyy="1.38377543503253E-07"
        iyz="-3.7659975848515E-13"
        izz="2.29166032829349E-07" />
    </inertial>
    <visual>
      <origin
        xyz="0 0 0"
        rpy="0 0 0" />
      <geometry>
        <mesh
          filename="package://CLOVIS25_URDF_Assembly_V1_With_Arms/meshes/Link58_AxisRy_MiddleFingerKnucle_Flexion.STL" />
      </geometry>
      <material
        name="">
        <color
          rgba="0.752941176470588 0.752941176470588 0.752941176470588 1" />
      </material>
    </visual>
    <collision>
      <origin
        xyz="0 0 0"
        rpy="0 0 0" />
      <geometry>
        <mesh
          filename="package://CLOVIS25_URDF_Assembly_V1_With_Arms/meshes/Link58_AxisRy_MiddleFingerKnucle_Flexion.STL" />
      </geometry>
    </collision>
  </link>
  <joint
    name="R58_AxisRy_MiddleFingerKnucle_Flexion"
    type="revolute">
    <origin
      xyz="0 0.0958 -0.0121"
      rpy="0 0 0" />
    <parent
      link="Link36_AxisRy_Wrist_Flexion" />
    <child
      link="Link58_AxisRy_MiddleFingerKnucle_Flexion" />
    <axis
      xyz="0 0 -1" />
    <limit
      lower="0"
      upper="0"
      effort="0"
      velocity="0" />
  </joint>
  <link
    name="Link59_AxisRy_MiddleFingerMiddle_Flexion">
    <inertial>
      <origin
        xyz="0.00240152083459483 0.00654385041930911 -7.78004879408538E-05"
        rpy="0 0 0" />
      <mass
        value="0.00237461021631887" />
      <inertia
        ixx="1.93784109250358E-07"
        ixy="1.6082154216516E-08"
        ixz="7.95861715003474E-11"
        iyy="9.31756219047186E-08"
        iyz="3.55124367944202E-10"
        izz="1.5178646817203E-07" />
    </inertial>
    <visual>
      <origin
        xyz="0 0 0"
        rpy="0 0 0" />
      <geometry>
        <mesh
          filename="package://CLOVIS25_URDF_Assembly_V1_With_Arms/meshes/Link59_AxisRy_MiddleFingerMiddle_Flexion.STL" />
      </geometry>
      <material
        name="">
        <color
          rgba="0.752941176470588 0.752941176470588 0.752941176470588 1" />
      </material>
    </visual>
    <collision>
      <origin
        xyz="0 0 0"
        rpy="0 0 0" />
      <geometry>
        <mesh
          filename="package://CLOVIS25_URDF_Assembly_V1_With_Arms/meshes/Link59_AxisRy_MiddleFingerMiddle_Flexion.STL" />
      </geometry>
    </collision>
  </link>
  <joint
    name="R59_AxisRy_MiddleFingerMiddle_Flexion"
    type="revolute">
    <origin
      xyz="0 0.03 -0.0001"
      rpy="-3.1416 0 -3.1416" />
    <parent
      link="Link58_AxisRy_MiddleFingerKnucle_Flexion" />
    <child
      link="Link59_AxisRy_MiddleFingerMiddle_Flexion" />
    <axis
      xyz="0 0 -1" />
    <limit
      lower="0"
      upper="0"
      effort="0"
      velocity="0" />
  </joint>
  <link
    name="Link71_AxisRy_MiddleFingerTip_Flexion">
    <inertial>
      <origin
        xyz="-0.00555116931158445 0.00681823871640319 -2.21893248306126E-06"
        rpy="0 0 0" />
      <mass
        value="0.00253828371370102" />
      <inertia
        ixx="1.28437698390917E-07"
        ixy="2.58021659424495E-08"
        ixz="7.2769008648212E-12"
        iyy="8.57012975056694E-08"
        iyz="-6.3136370901502E-11"
        izz="1.10632726364166E-07" />
    </inertial>
    <visual>
      <origin
        xyz="0 0 0"
        rpy="0 0 0" />
      <geometry>
        <mesh
          filename="package://CLOVIS25_URDF_Assembly_V1_With_Arms/meshes/Link71_AxisRy_MiddleFingerTip_Flexion.STL" />
      </geometry>
      <material
        name="">
        <color
          rgba="0.752941176470588 0.752941176470588 0.752941176470588 1" />
      </material>
    </visual>
    <collision>
      <origin
        xyz="0 0 0"
        rpy="0 0 0" />
      <geometry>
        <mesh
          filename="package://CLOVIS25_URDF_Assembly_V1_With_Arms/meshes/Link71_AxisRy_MiddleFingerTip_Flexion.STL" />
      </geometry>
    </collision>
  </link>
  <joint
    name="R71_AxisRy_MiddleFingerTip_Flexion"
    type="revolute">
    <origin
      xyz="-0.00093853 0.018977 -0.0001"
      rpy="0 0 0" />
    <parent
      link="Link59_AxisRy_MiddleFingerMiddle_Flexion" />
    <child
      link="Link71_AxisRy_MiddleFingerTip_Flexion" />
    <axis
      xyz="0 0 -1" />
    <limit
      lower="0"
      upper="0"
      effort="0"
      velocity="0" />
  </joint>
  <link
    name="Link72_AxisRy_PinkyKnucle_Flexion">
    <inertial>
      <origin
        xyz="-0.00211406335375966 0.0145062489951216 -0.00900000440290133"
        rpy="0 0 0" />
      <mass
        value="0.00610159192464205" />
      <inertia
        ixx="5.75059461508261E-07"
        ixy="-3.110319161842E-08"
        ixz="-2.48072038654902E-13"
        iyy="2.76755087006631E-07"
        iyz="-7.53199512965244E-13"
        izz="4.58332065658863E-07" />
    </inertial>
    <visual>
      <origin
        xyz="0 0 0"
        rpy="0 0 0" />
      <geometry>
        <mesh
          filename="package://CLOVIS25_URDF_Assembly_V1_With_Arms/meshes/Link72_AxisRy_PinkyKnucle_Flexion.STL" />
      </geometry>
      <material
        name="">
        <color
          rgba="0.752941176470588 0.752941176470588 0.752941176470588 1" />
      </material>
    </visual>
    <collision>
      <origin
        xyz="0 0 0"
        rpy="0 0 0" />
      <geometry>
        <mesh
          filename="package://CLOVIS25_URDF_Assembly_V1_With_Arms/meshes/Link72_AxisRy_PinkyKnucle_Flexion.STL" />
      </geometry>
    </collision>
  </link>
  <joint
    name="R72_AxisRy_PinkyKnucle_Flexion"
    type="revolute">
    <origin
      xyz="0 0.0958 0.0239"
      rpy="0 0 0" />
    <parent
      link="Link36_AxisRy_Wrist_Flexion" />
    <child
      link="Link72_AxisRy_PinkyKnucle_Flexion" />
    <axis
      xyz="0 0 1" />
    <limit
      lower="0"
      upper="0"
      effort="0"
      velocity="0" />
  </joint>
  <link
    name="Link73_AxisRy_PinkyMiddle_Flexion">
    <inertial>
      <origin
        xyz="0.00240152083459336 0.0065438504193108 0.00892219951206063"
        rpy="0 0 0" />
      <mass
        value="0.00474922043263773" />
      <inertia
        ixx="3.87568218500719E-07"
        ixy="3.2164308433028E-08"
        ixz="1.59172343000888E-10"
        iyy="1.86351243809436E-07"
        iyz="7.10248735888108E-10"
        izz="3.03572936344064E-07" />
    </inertial>
    <visual>
      <origin
        xyz="0 0 0"
        rpy="0 0 0" />
      <geometry>
        <mesh
          filename="package://CLOVIS25_URDF_Assembly_V1_With_Arms/meshes/Link73_AxisRy_PinkyMiddle_Flexion.STL" />
      </geometry>
      <material
        name="">
        <color
          rgba="0.752941176470588 0.752941176470588 0.752941176470588 1" />
      </material>
    </visual>
    <collision>
      <origin
        xyz="0 0 0"
        rpy="0 0 0" />
      <geometry>
        <mesh
          filename="package://CLOVIS25_URDF_Assembly_V1_With_Arms/meshes/Link73_AxisRy_PinkyMiddle_Flexion.STL" />
      </geometry>
    </collision>
  </link>
  <joint
    name="R73_AxisRy_PinkyMiddle_Flexion"
    type="revolute">
    <origin
      xyz="0 0.03 -0.0001"
      rpy="3.1416 0 -3.1416" />
    <parent
      link="Link72_AxisRy_PinkyKnucle_Flexion" />
    <child
      link="Link73_AxisRy_PinkyMiddle_Flexion" />
    <axis
      xyz="0 0 -1" />
    <limit
      lower="0"
      upper="0"
      effort="0"
      velocity="0" />
  </joint>
  <link
    name="Link74_AxisRy_PinkyTip_Flexion">
    <inertial>
      <origin
        xyz="-0.00555116931158375 0.00681823871640161 0.00899778106751594"
        rpy="0 0 0" />
      <mass
        value="0.00507656742740204" />
      <inertia
        ixx="2.56875396781832E-07"
        ixy="5.16043318849003E-08"
        ixz="1.45538017299102E-11"
        iyy="1.71402595011334E-07"
        iyz="-1.262727418032E-10"
        izz="2.21265452728324E-07" />
    </inertial>
    <visual>
      <origin
        xyz="0 0 0"
        rpy="0 0 0" />
      <geometry>
        <mesh
          filename="package://CLOVIS25_URDF_Assembly_V1_With_Arms/meshes/Link74_AxisRy_PinkyTip_Flexion.STL" />
      </geometry>
      <material
        name="">
        <color
          rgba="0.752941176470588 0.752941176470588 0.752941176470588 1" />
      </material>
    </visual>
    <collision>
      <origin
        xyz="0 0 0"
        rpy="0 0 0" />
      <geometry>
        <mesh
          filename="package://CLOVIS25_URDF_Assembly_V1_With_Arms/meshes/Link74_AxisRy_PinkyTip_Flexion.STL" />
      </geometry>
    </collision>
  </link>
  <joint
    name="R74_AxisRy_PinkyTip_Flexion"
    type="revolute">
    <origin
      xyz="-0.00093853 0.018977 -0.0001"
      rpy="0 0 0" />
    <parent
      link="Link73_AxisRy_PinkyMiddle_Flexion" />
    <child
      link="Link74_AxisRy_PinkyTip_Flexion" />
    <axis
      xyz="0 0 -1" />
    <limit
      lower="0"
      upper="0"
      effort="0"
      velocity="0" />
  </joint>
  <link
    name="Link40_AxisRy_Shoulder_Flexion">
    <inertial>
      <origin
        xyz="-0.00121123558723257 -0.00325052552894097 -0.0120546201896226"
        rpy="0 0 0" />
      <mass
        value="0.0372585040308182" />
      <inertia
        ixx="1.59292439561581E-05"
        ixy="-1.20796833909011E-06"
        ixz="4.79452740206935E-07"
        iyy="1.63936933589084E-05"
        iyz="8.0280097484525E-07"
        izz="2.03152999256755E-05" />
    </inertial>
    <visual>
      <origin
        xyz="0 0 0"
        rpy="0 0 0" />
      <geometry>
        <mesh
          filename="package://CLOVIS25_URDF_Assembly_V1_With_Arms/meshes/Link40_AxisRy_Shoulder_Flexion.STL" />
      </geometry>
      <material
        name="">
        <color
          rgba="0.752941176470588 0.752941176470588 0.752941176470588 1" />
      </material>
    </visual>
    <collision>
      <origin
        xyz="0 0 0"
        rpy="0 0 0" />
      <geometry>
        <mesh
          filename="package://CLOVIS25_URDF_Assembly_V1_With_Arms/meshes/Link40_AxisRy_Shoulder_Flexion.STL" />
      </geometry>
    </collision>
  </link>
  <joint
    name="R40_AxisRy_Shoulder_Flexion"
    type="revolute">
    <origin
      xyz="0.028926 0.10137 0.13085"
      rpy="-2.8889 1.3002 1.5708" />
    <parent
      link="Link2_AxisRy_Abs_Pitch" />
    <child
      link="Link40_AxisRy_Shoulder_Flexion" />
    <axis
      xyz="0 0 1" />
    <limit
      lower="0"
      upper="0"
      effort="0"
      velocity="0" />
  </joint>
  <link
    name="Link41_AxisRz_Shoulder_Rotation">
    <inertial>
      <origin
        xyz="-0.031037590317066 0.0149616403812064 -0.00284732124355624"
        rpy="0 0 0" />
      <mass
        value="0.0306386900120499" />
      <inertia
        ixx="1.91180620203453E-05"
        ixy="2.81663109524512E-07"
        ixz="-8.43194947317033E-07"
        iyy="2.64926204617935E-05"
        iyz="-1.49808930781167E-07"
        izz="1.44968161981896E-05" />
    </inertial>
    <visual>
      <origin
        xyz="0 0 0"
        rpy="0 0 0" />
      <geometry>
        <mesh
          filename="package://CLOVIS25_URDF_Assembly_V1_With_Arms/meshes/Link41_AxisRz_Shoulder_Rotation.STL" />
      </geometry>
      <material
        name="">
        <color
          rgba="0.752941176470588 0.752941176470588 0.752941176470588 1" />
      </material>
    </visual>
    <collision>
      <origin
        xyz="0 0 0"
        rpy="0 0 0" />
      <geometry>
        <mesh
          filename="package://CLOVIS25_URDF_Assembly_V1_With_Arms/meshes/Link41_AxisRz_Shoulder_Rotation.STL" />
      </geometry>
    </collision>
  </link>
  <joint
    name="R41_AxisRz_Shoulder_Rotation"
    type="revolute">
    <origin
      xyz="0 0 -0.0185"
      rpy="-1.5708 -1.3181 1.5708" />
    <parent
      link="Link40_AxisRy_Shoulder_Flexion" />
    <child
      link="Link41_AxisRz_Shoulder_Rotation" />
    <axis
      xyz="0 0 -1" />
    <limit
      lower="0"
      upper="0"
      effort="0"
      velocity="0" />
  </joint>
  <link
    name="Link42_AxisRx_Shoulder_Abduction">
    <inertial>
      <origin
        xyz="-0.0104533722287961 0.0621641528033098 -0.0367098346341928"
        rpy="0 0 0" />
      <mass
        value="0.102684755192033" />
      <inertia
        ixx="0.000190384776363635"
        ixy="3.56985264472031E-06"
        ixz="-8.38018795361799E-06"
        iyy="8.95074856580027E-05"
        iyz="1.36363519746056E-05"
        izz="0.000128462975328787" />
    </inertial>
    <visual>
      <origin
        xyz="0 0 0"
        rpy="0 0 0" />
      <geometry>
        <mesh
          filename="package://CLOVIS25_URDF_Assembly_V1_With_Arms/meshes/Link42_AxisRx_Shoulder_Abduction.STL" />
      </geometry>
      <material
        name="">
        <color
          rgba="0.752941176470588 0.752941176470588 0.752941176470588 1" />
      </material>
    </visual>
    <collision>
      <origin
        xyz="0 0 0"
        rpy="0 0 0" />
      <geometry>
        <mesh
          filename="package://CLOVIS25_URDF_Assembly_V1_With_Arms/meshes/Link42_AxisRx_Shoulder_Abduction.STL" />
      </geometry>
    </collision>
  </link>
  <joint
    name="R42_AxisRx_Shoulder_Abduction"
    type="revolute">
    <origin
      xyz="-0.04 0.035 0"
      rpy="-1.5708 -0.2706 0" />
    <parent
      link="Link41_AxisRz_Shoulder_Rotation" />
    <child
      link="Link42_AxisRx_Shoulder_Abduction" />
    <axis
      xyz="0 0 -1" />
    <limit
      lower="0"
      upper="0"
      effort="0"
      velocity="0" />
  </joint>
  <link
    name="Link43_AxisRy_Elbow_Flexion">
    <inertial>
      <origin
        xyz="-0.0080727687932108 -0.0218914501989354 3.10108556528244E-07"
        rpy="0 0 0" />
      <mass
        value="0.0625250269673178" />
      <inertia
        ixx="2.66478004431713E-05"
        ixy="6.31836864625833E-07"
        ixz="-1.40643338442552E-11"
        iyy="2.90856883755307E-05"
        iyz="-2.34225449340681E-10"
        izz="2.16871103273754E-05" />
    </inertial>
    <visual>
      <origin
        xyz="0 0 0"
        rpy="0 0 0" />
      <geometry>
        <mesh
          filename="package://CLOVIS25_URDF_Assembly_V1_With_Arms/meshes/Link43_AxisRy_Elbow_Flexion.STL" />
      </geometry>
      <material
        name="">
        <color
          rgba="0.752941176470588 0.752941176470588 0.752941176470588 1" />
      </material>
    </visual>
    <collision>
      <origin
        xyz="0 0 0"
        rpy="0 0 0" />
      <geometry>
        <mesh
          filename="package://CLOVIS25_URDF_Assembly_V1_With_Arms/meshes/Link43_AxisRy_Elbow_Flexion.STL" />
      </geometry>
    </collision>
  </link>
  <joint
    name="R43_AxisRy_Elbow_Flexion"
    type="revolute">
    <origin
      xyz="-0.01133 0.12951 -0.035"
      rpy="1.5708 0 -1.4835" />
    <parent
      link="Link42_AxisRx_Shoulder_Abduction" />
    <child
      link="Link43_AxisRy_Elbow_Flexion" />
    <axis
      xyz="0 0 1" />
    <limit
      lower="0"
      upper="0"
      effort="0"
      velocity="0" />
  </joint>
  <link
    name="Link44_AxisRz_Wrist_Rotation">
    <inertial>
      <origin
        xyz="-0.00052013572072046 0.000899444800886948 -0.0257687218150331"
        rpy="0 0 0" />
      <mass
        value="0.0957043838830596" />
      <inertia
        ixx="5.31198214472714E-05"
        ixy="4.22873926070956E-08"
        ixz="-1.80532683877414E-07"
        iyy="5.30300163545773E-05"
        iyz="1.147383149236E-06"
        izz="3.79612077187454E-05" />
    </inertial>
    <visual>
      <origin
        xyz="0 0 0"
        rpy="0 0 0" />
      <geometry>
        <mesh
          filename="package://CLOVIS25_URDF_Assembly_V1_With_Arms/meshes/Link44_AxisRz_Wrist_Rotation.STL" />
      </geometry>
      <material
        name="">
        <color
          rgba="0.752941176470588 0.752941176470588 0.752941176470588 1" />
      </material>
    </visual>
    <collision>
      <origin
        xyz="0 0 0"
        rpy="0 0 0" />
      <geometry>
        <mesh
          filename="package://CLOVIS25_URDF_Assembly_V1_With_Arms/meshes/Link44_AxisRz_Wrist_Rotation.STL" />
      </geometry>
    </collision>
  </link>
  <joint
    name="R44_AxisRz_Wrist_Rotation"
    type="revolute">
    <origin
      xyz="-0.04 -0.019 0"
      rpy="-1.5782 1.5708 -1.5782" />
    <parent
      link="Link43_AxisRy_Elbow_Flexion" />
    <child
      link="Link44_AxisRz_Wrist_Rotation" />
    <axis
      xyz="0 0 -1" />
    <limit
      lower="0"
      upper="0"
      effort="0"
      velocity="0" />
  </joint>
  <link
    name="Link45_AxisRx_Wrist_Abduction">
    <inertial>
      <origin
        xyz="-0.0081343586336623 4.05206361396918E-07 5.46147069513392E-08"
        rpy="0 0 0" />
      <mass
        value="0.0129110778126474" />
      <inertia
        ixx="5.34580369587512E-06"
        ixy="-1.03772626660116E-10"
        ixz="-6.34307336209697E-11"
        iyy="1.41876387165847E-06"
        iyz="1.77315332015436E-11"
        izz="5.32098561653816E-06" />
    </inertial>
    <visual>
      <origin
        xyz="0 0 0"
        rpy="0 0 0" />
      <geometry>
        <mesh
          filename="package://CLOVIS25_URDF_Assembly_V1_With_Arms/meshes/Link45_AxisRx_Wrist_Abduction.STL" />
      </geometry>
      <material
        name="">
        <color
          rgba="0.752941176470588 0.752941176470588 0.752941176470588 1" />
      </material>
    </visual>
    <collision>
      <origin
        xyz="0 0 0"
        rpy="0 0 0" />
      <geometry>
        <mesh
          filename="package://CLOVIS25_URDF_Assembly_V1_With_Arms/meshes/Link45_AxisRx_Wrist_Abduction.STL" />
      </geometry>
    </collision>
  </link>
  <joint
    name="R45_AxisRx_Wrist_Abduction"
    type="revolute">
    <origin
      xyz="0 0 -0.0935"
      rpy="0 1.5708 0" />
    <parent
      link="Link44_AxisRz_Wrist_Rotation" />
    <child
      link="Link45_AxisRx_Wrist_Abduction" />
    <axis
      xyz="0 0 -1" />
    <limit
      lower="0"
      upper="0"
      effort="0"
      velocity="0" />
  </joint>
  <link
    name="Link46_AxisRy_Wrist_Flexion">
    <inertial>
      <origin
        xyz="0.00278267075390032 0.0506979479143983 -0.000514721849918454"
        rpy="0 0 0" />
      <mass
        value="0.0948671737442962" />
      <inertia
        ixx="6.39852654903485E-05"
        ixy="-5.7365412448959E-06"
        ixz="-3.49417172552981E-06"
        iyy="2.95680935564869E-05"
        iyz="-7.83632804567136E-06"
        izz="4.67672378976367E-05" />
    </inertial>
    <visual>
      <origin
        xyz="0 0 0"
        rpy="0 0 0" />
      <geometry>
        <mesh
          filename="package://CLOVIS25_URDF_Assembly_V1_With_Arms/meshes/Link46_AxisRy_Wrist_Flexion.STL" />
      </geometry>
      <material
        name="">
        <color
          rgba="0.752941176470588 0.752941176470588 0.752941176470588 1" />
      </material>
    </visual>
    <collision>
      <origin
        xyz="0 0 0"
        rpy="0 0 0" />
      <geometry>
        <mesh
          filename="package://CLOVIS25_URDF_Assembly_V1_With_Arms/meshes/Link46_AxisRy_Wrist_Flexion.STL" />
      </geometry>
    </collision>
  </link>
  <joint
    name="R46_AxisRy_Wrist_Flexion"
    type="revolute">
    <origin
      xyz="0 0 0"
      rpy="1.5708 1.4835 0" />
    <parent
      link="Link45_AxisRx_Wrist_Abduction" />
    <child
      link="Link46_AxisRy_Wrist_Flexion" />
    <axis
      xyz="0 0 -1" />
    <limit
      lower="0"
      upper="0"
      effort="0"
      velocity="0" />
  </joint>
  <link
    name="Link61_AxisRz_ThumbKnucle_Rotation">
    <inertial>
      <origin
        xyz="4.91409246072827E-08 -0.000121891601797812 -0.00201210065266587"
        rpy="0 0 0" />
      <mass
        value="0.00115968038152585" />
      <inertia
        ixx="4.03439585123012E-08"
        ixy="2.39268724516476E-13"
        ixz="-3.87054840157714E-14"
        iyy="4.18267857957213E-08"
        iyz="4.02150632623849E-10"
        izz="1.66744809622366E-08" />
    </inertial>
    <visual>
      <origin
        xyz="0 0 0"
        rpy="0 0 0" />
      <geometry>
        <mesh
          filename="package://CLOVIS25_URDF_Assembly_V1_With_Arms/meshes/Link61_AxisRz_ThumbKnucle_Rotation.STL" />
      </geometry>
      <material
        name="">
        <color
          rgba="0.752941176470588 0.752941176470588 0.752941176470588 1" />
      </material>
    </visual>
    <collision>
      <origin
        xyz="0 0 0"
        rpy="0 0 0" />
      <geometry>
        <mesh
          filename="package://CLOVIS25_URDF_Assembly_V1_With_Arms/meshes/Link61_AxisRz_ThumbKnucle_Rotation.STL" />
      </geometry>
    </collision>
  </link>
  <joint
    name="R61_AxisRz_ThumbKnucle_Rotation"
    type="revolute">
    <origin
      xyz="-0.020899 0.0382 -0.021786"
      rpy="-1.5708 0 0" />
    <parent
      link="Link46_AxisRy_Wrist_Flexion" />
    <child
      link="Link61_AxisRz_ThumbKnucle_Rotation" />
    <axis
      xyz="0 0 -1" />
    <limit
      lower="0"
      upper="0"
      effort="0"
      velocity="0" />
  </joint>
  <link
    name="Link62_AxisRy_ThumbKnucle_Flexion">
    <inertial>
      <origin
        xyz="0.00162052317270532 0.0143580240590539 8.87240710345516E-08"
        rpy="0 0 0" />
      <mass
        value="0.00310333576369737" />
      <inertia
        ixx="2.79345952527193E-07"
        ixy="-5.45699827270568E-08"
        ixz="1.93583934077782E-12"
        iyy="1.6061970074331E-07"
        iyz="1.82698794796993E-12"
        izz="2.38435467591372E-07" />
    </inertial>
    <visual>
      <origin
        xyz="0 0 0"
        rpy="0 0 0" />
      <geometry>
        <mesh
          filename="package://CLOVIS25_URDF_Assembly_V1_With_Arms/meshes/Link62_AxisRy_ThumbKnucle_Flexion.STL" />
      </geometry>
      <material
        name="">
        <color
          rgba="0.752941176470588 0.752941176470588 0.752941176470588 1" />
      </material>
    </visual>
    <collision>
      <origin
        xyz="0 0 0"
        rpy="0 0 0" />
      <geometry>
        <mesh
          filename="package://CLOVIS25_URDF_Assembly_V1_With_Arms/meshes/Link62_AxisRy_ThumbKnucle_Flexion.STL" />
      </geometry>
    </collision>
  </link>
  <joint
    name="R62_AxisRy_ThumbKnucle_Flexion"
    type="revolute">
    <origin
      xyz="0 0 0"
      rpy="3.1416 -1.5708 0" />
    <parent
      link="Link61_AxisRz_ThumbKnucle_Rotation" />
    <child
      link="Link62_AxisRy_ThumbKnucle_Flexion" />
    <axis
      xyz="0 0 -1" />
    <limit
      lower="0"
      upper="0"
      effort="0"
      velocity="0" />
  </joint>
  <link
    name="Link63_AxisRy_Thumb_Flexion">
    <inertial>
      <origin
        xyz="7.16902495705024E-05 0.00984633190078761 -0.000109122506530196"
        rpy="0 0 0" />
      <mass
        value="0.0038950256358541" />
      <inertia
        ixx="3.31740758410828E-07"
        ixy="8.52234616085922E-08"
        ixz="-3.03665120916645E-10"
        iyy="1.48960518802381E-07"
        iyz="8.31876939876165E-10"
        izz="3.11286681941717E-07" />
    </inertial>
    <visual>
      <origin
        xyz="0 0 0"
        rpy="0 0 0" />
      <geometry>
        <mesh
          filename="package://CLOVIS25_URDF_Assembly_V1_With_Arms/meshes/Link63_AxisRy_Thumb_Flexion.STL" />
      </geometry>
      <material
        name="">
        <color
          rgba="0.752941176470588 0.752941176470588 0.752941176470588 1" />
      </material>
    </visual>
    <collision>
      <origin
        xyz="0 0 0"
        rpy="0 0 0" />
      <geometry>
        <mesh
          filename="package://CLOVIS25_URDF_Assembly_V1_With_Arms/meshes/Link63_AxisRy_Thumb_Flexion.STL" />
      </geometry>
    </collision>
  </link>
  <joint
    name="R63_AxisRy_Thumb_Flexion"
    type="revolute">
    <origin
      xyz="0.0077892 0.028971 -0.0001"
      rpy="-3.1416 0 3.1416" />
    <parent
      link="Link62_AxisRy_ThumbKnucle_Flexion" />
    <child
      link="Link63_AxisRy_Thumb_Flexion" />
    <axis
      xyz="0 0 -1" />
    <limit
      lower="0"
      upper="0"
      effort="0"
      velocity="0" />
  </joint>
  <link
    name="Link64_AxisRx_IndexKnucle_Abduction">
    <inertial>
      <origin
        xyz="-0.000121891601795238 -4.91409302971757E-08 -0.00201210065266355"
        rpy="0 0 0" />
      <mass
        value="0.00115968038152585" />
      <inertia
        ixx="4.18267857957161E-08"
        ixy="-2.39268724346184E-13"
        ixz="4.02150632622319E-10"
        iyy="4.03439585123049E-08"
        iyz="3.87054839557255E-14"
        izz="1.66744809622274E-08" />
    </inertial>
    <visual>
      <origin
        xyz="0 0 0"
        rpy="0 0 0" />
      <geometry>
        <mesh
          filename="package://CLOVIS25_URDF_Assembly_V1_With_Arms/meshes/Link64_AxisRx_IndexKnucle_Abduction.STL" />
      </geometry>
      <material
        name="">
        <color
          rgba="0.752941176470588 0.752941176470588 0.752941176470588 1" />
      </material>
    </visual>
    <collision>
      <origin
        xyz="0 0 0"
        rpy="0 0 0" />
      <geometry>
        <mesh
          filename="package://CLOVIS25_URDF_Assembly_V1_With_Arms/meshes/Link64_AxisRx_IndexKnucle_Abduction.STL" />
      </geometry>
    </collision>
  </link>
  <joint
    name="R64_AxisRx_IndexKnucle_Abduction"
    type="revolute">
    <origin
      xyz="0 0.10071 -0.03"
      rpy="-1.5708 0 1.5708" />
    <parent
      link="Link46_AxisRy_Wrist_Flexion" />
    <child
      link="Link64_AxisRx_IndexKnucle_Abduction" />
    <axis
      xyz="0 0 -1" />
    <limit
      lower="0"
      upper="0"
      effort="0"
      velocity="0" />
  </joint>
  <link
    name="Link65_AxisRy_IndexKnucle_Flexion">
    <inertial>
      <origin
        xyz="-0.00211406335376799 0.0145062489951183 -4.40290206377147E-09"
        rpy="0 0 0" />
      <mass
        value="0.00305079596232101" />
      <inertia
        ixx="2.87529730754108E-07"
        ixy="-1.55515958091808E-08"
        ixz="-1.24036018621152E-13"
        iyy="1.38377543503227E-07"
        iyz="-3.76599757357535E-13"
        izz="2.29166032829321E-07" />
    </inertial>
    <visual>
      <origin
        xyz="0 0 0"
        rpy="0 0 0" />
      <geometry>
        <mesh
          filename="package://CLOVIS25_URDF_Assembly_V1_With_Arms/meshes/Link65_AxisRy_IndexKnucle_Flexion.STL" />
      </geometry>
      <material
        name="">
        <color
          rgba="0.752941176470588 0.752941176470588 0.752941176470588 1" />
      </material>
    </visual>
    <collision>
      <origin
        xyz="0 0 0"
        rpy="0 0 0" />
      <geometry>
        <mesh
          filename="package://CLOVIS25_URDF_Assembly_V1_With_Arms/meshes/Link65_AxisRy_IndexKnucle_Flexion.STL" />
      </geometry>
    </collision>
  </link>
  <joint
    name="R65_AxisRy_IndexKnucle_Flexion"
    type="fixed">
    <origin
      xyz="0 0 0"
      rpy="1.5708 -1.5708 0" />
    <parent
      link="Link64_AxisRx_IndexKnucle_Abduction" />
    <child
      link="Link65_AxisRy_IndexKnucle_Flexion" />
    <axis
      xyz="0 0 0" />
  </joint>
  <link
    name="Link66_AxisRy_IndexMiddle_Flexion">
    <inertial>
      <origin
        xyz="0.00240152083460479 0.00654385041930641 -7.78004879369992E-05"
        rpy="0 0 0" />
      <mass
        value="0.00237461021631886" />
      <inertia
        ixx="1.93784109250359E-07"
        ixy="1.60821542165126E-08"
        ixz="7.95861715000474E-11"
        iyy="9.31756219047256E-08"
        iyz="3.55124367944556E-10"
        izz="1.51786468172039E-07" />
    </inertial>
    <visual>
      <origin
        xyz="0 0 0"
        rpy="0 0 0" />
      <geometry>
        <mesh
          filename="package://CLOVIS25_URDF_Assembly_V1_With_Arms/meshes/Link66_AxisRy_IndexMiddle_Flexion.STL" />
      </geometry>
      <material
        name="">
        <color
          rgba="0.752941176470588 0.752941176470588 0.752941176470588 1" />
      </material>
    </visual>
    <collision>
      <origin
        xyz="0 0 0"
        rpy="0 0 0" />
      <geometry>
        <mesh
          filename="package://CLOVIS25_URDF_Assembly_V1_With_Arms/meshes/Link66_AxisRy_IndexMiddle_Flexion.STL" />
      </geometry>
    </collision>
  </link>
  <joint
    name="R66_AxisRy_IndexMiddle_Flexion"
    type="revolute">
    <origin
      xyz="0 0.03 -0.0001"
      rpy="3.1416 0 -3.1416" />
    <parent
      link="Link65_AxisRy_IndexKnucle_Flexion" />
    <child
      link="Link66_AxisRy_IndexMiddle_Flexion" />
    <axis
      xyz="0 0 -1" />
    <limit
      lower="0"
      upper="0"
      effort="0"
      velocity="0" />
  </joint>
  <link
    name="Link67_AxisRy_IndexTip_Flexion">
    <inertial>
      <origin
        xyz="-0.00555116931157285 0.00681823871639811 -2.21893247968202E-06"
        rpy="0 0 0" />
      <mass
        value="0.00253828371370102" />
      <inertia
        ixx="1.28437698390917E-07"
        ixy="2.58021659424467E-08"
        ixz="7.27690086499317E-12"
        iyy="8.57012975056679E-08"
        iyz="-6.31363709015424E-11"
        izz="1.10632726364164E-07" />
    </inertial>
    <visual>
      <origin
        xyz="0 0 0"
        rpy="0 0 0" />
      <geometry>
        <mesh
          filename="package://CLOVIS25_URDF_Assembly_V1_With_Arms/meshes/Link67_AxisRy_IndexTip_Flexion.STL" />
      </geometry>
      <material
        name="">
        <color
          rgba="0.752941176470588 0.752941176470588 0.752941176470588 1" />
      </material>
    </visual>
    <collision>
      <origin
        xyz="0 0 0"
        rpy="0 0 0" />
      <geometry>
        <mesh
          filename="package://CLOVIS25_URDF_Assembly_V1_With_Arms/meshes/Link67_AxisRy_IndexTip_Flexion.STL" />
      </geometry>
    </collision>
  </link>
  <joint
    name="R67_AxisRy_IndexTip_Flexion"
    type="revolute">
    <origin
      xyz="-0.00093853 0.018977 -0.0001"
      rpy="0 0 0" />
    <parent
      link="Link66_AxisRy_IndexMiddle_Flexion" />
    <child
      link="Link67_AxisRy_IndexTip_Flexion" />
    <axis
      xyz="0 0 -1" />
    <limit
      lower="0"
      upper="0"
      effort="0"
      velocity="0" />
  </joint>
  <link
    name="Link68_AxisRy_MiddleFingerKnucle_Flexion">
    <inertial>
      <origin
        xyz="-0.00211406335376799 0.0145062489951181 -4.40290677181099E-09"
        rpy="0 0 0" />
      <mass
        value="0.003050795962321" />
      <inertia
        ixx="2.87529730754099E-07"
        ixy="-1.55515958091749E-08"
        ixz="-1.24036018369782E-13"
        iyy="1.38377543503217E-07"
        iyz="-3.76599757307871E-13"
        izz="2.29166032829303E-07" />
    </inertial>
    <visual>
      <origin
        xyz="0 0 0"
        rpy="0 0 0" />
      <geometry>
        <mesh
          filename="package://CLOVIS25_URDF_Assembly_V1_With_Arms/meshes/Link68_AxisRy_MiddleFingerKnucle_Flexion.STL" />
      </geometry>
      <material
        name="">
        <color
          rgba="0.752941176470588 0.752941176470588 0.752941176470588 1" />
      </material>
    </visual>
    <collision>
      <origin
        xyz="0 0 0"
        rpy="0 0 0" />
      <geometry>
        <mesh
          filename="package://CLOVIS25_URDF_Assembly_V1_With_Arms/meshes/Link68_AxisRy_MiddleFingerKnucle_Flexion.STL" />
      </geometry>
    </collision>
  </link>
  <joint
    name="R68_AxisRy_MiddleFingerKnucle_Flexion"
    type="revolute">
    <origin
      xyz="0 0.0958 -0.012145"
      rpy="-3.1416 0 -3.1416" />
    <parent
      link="Link46_AxisRy_Wrist_Flexion" />
    <child
      link="Link68_AxisRy_MiddleFingerKnucle_Flexion" />
    <axis
      xyz="0 0 -1" />
    <limit
      lower="0"
      upper="0"
      effort="0"
      velocity="0" />
  </joint>
  <link
    name="Link69_AxisRy_MiddleFingerMiddle_Flexion">
    <inertial>
      <origin
        xyz="0.0024015208346044 0.00654385041930688 -7.78004879364545E-05"
        rpy="0 0 0" />
      <mass
        value="0.00237461021631886" />
      <inertia
        ixx="1.93784109250358E-07"
        ixy="1.60821542165148E-08"
        ixz="7.95861715001871E-11"
        iyy="9.31756219047187E-08"
        iyz="3.55124367944345E-10"
        izz="1.51786468172031E-07" />
    </inertial>
    <visual>
      <origin
        xyz="0 0 0"
        rpy="0 0 0" />
      <geometry>
        <mesh
          filename="package://CLOVIS25_URDF_Assembly_V1_With_Arms/meshes/Link69_AxisRy_MiddleFingerMiddle_Flexion.STL" />
      </geometry>
      <material
        name="">
        <color
          rgba="0.752941176470588 0.752941176470588 0.752941176470588 1" />
      </material>
    </visual>
    <collision>
      <origin
        xyz="0 0 0"
        rpy="0 0 0" />
      <geometry>
        <mesh
          filename="package://CLOVIS25_URDF_Assembly_V1_With_Arms/meshes/Link69_AxisRy_MiddleFingerMiddle_Flexion.STL" />
      </geometry>
    </collision>
  </link>
  <joint
    name="R69_AxisRy_MiddleFingerMiddle_Flexion"
    type="revolute">
    <origin
      xyz="0 0.03 -0.0001"
      rpy="-3.1416 0 3.1416" />
    <parent
      link="Link68_AxisRy_MiddleFingerKnucle_Flexion" />
    <child
      link="Link69_AxisRy_MiddleFingerMiddle_Flexion" />
    <axis
      xyz="0 0 -1" />
    <limit
      lower="0"
      upper="0"
      effort="0"
      velocity="0" />
  </joint>
  <link
    name="Link81_AxisRy_MiddleFingerTip_Flexion">
    <inertial>
      <origin
        xyz="0.00555116931157487 -0.00681823871639956 -2.21893247968549E-06"
        rpy="0 0 0" />
      <mass
        value="0.00253828371370102" />
      <inertia
        ixx="1.28437698390917E-07"
        ixy="2.58021659424493E-08"
        ixz="-7.27690086496073E-12"
        iyy="8.57012975056711E-08"
        iyz="6.31363709016169E-11"
        izz="1.10632726364166E-07" />
    </inertial>
    <visual>
      <origin
        xyz="0 0 0"
        rpy="0 0 0" />
      <geometry>
        <mesh
          filename="package://CLOVIS25_URDF_Assembly_V1_With_Arms/meshes/Link81_AxisRy_MiddleFingerTip_Flexion.STL" />
      </geometry>
      <material
        name="">
        <color
          rgba="0.752941176470588 0.752941176470588 0.752941176470588 1" />
      </material>
    </visual>
    <collision>
      <origin
        xyz="0 0 0"
        rpy="0 0 0" />
      <geometry>
        <mesh
          filename="package://CLOVIS25_URDF_Assembly_V1_With_Arms/meshes/Link81_AxisRy_MiddleFingerTip_Flexion.STL" />
      </geometry>
    </collision>
  </link>
  <joint
    name="R81_AxisRy_MiddleFingerTip_Flexion"
    type="revolute">
    <origin
      xyz="-0.00093853 0.018977 -0.0001"
      rpy="0 0 -3.1416" />
    <parent
      link="Link69_AxisRy_MiddleFingerMiddle_Flexion" />
    <child
      link="Link81_AxisRy_MiddleFingerTip_Flexion" />
    <axis
      xyz="0 0 -1" />
    <limit
      lower="0"
      upper="0"
      effort="0"
      velocity="0" />
  </joint>
  <link
    name="Link82_AxisRy_PinkyKnucle_Flexion">
    <inertial>
      <origin
        xyz="-0.00211406335376788 0.0145062489951181 0.00899999559709319"
        rpy="0 0 0" />
      <mass
        value="0.00610159192464206" />
      <inertia
        ixx="5.75059461508254E-07"
        ixy="-3.11031916184132E-08"
        ixz="-2.48072038107511E-13"
        iyy="2.7675508700658E-07"
        iyz="-7.53199513738036E-13"
        izz="4.58332065658804E-07" />
    </inertial>
    <visual>
      <origin
        xyz="0 0 0"
        rpy="0 0 0" />
      <geometry>
        <mesh
          filename="package://CLOVIS25_URDF_Assembly_V1_With_Arms/meshes/Link82_AxisRy_PinkyKnucle_Flexion.STL" />
      </geometry>
      <material
        name="">
        <color
          rgba="0.752941176470588 0.752941176470588 0.752941176470588 1" />
      </material>
    </visual>
    <collision>
      <origin
        xyz="0 0 0"
        rpy="0 0 0" />
      <geometry>
        <mesh
          filename="package://CLOVIS25_URDF_Assembly_V1_With_Arms/meshes/Link82_AxisRy_PinkyKnucle_Flexion.STL" />
      </geometry>
    </collision>
  </link>
  <joint
    name="R82_AxisRy_PinkyKnucle_Flexion"
    type="revolute">
    <origin
      xyz="0 0.0958 0.023855"
      rpy="-3.1416 0 -3.1416" />
    <parent
      link="Link46_AxisRy_Wrist_Flexion" />
    <child
      link="Link82_AxisRy_PinkyKnucle_Flexion" />
    <axis
      xyz="0 0 -1" />
    <limit
      lower="0"
      upper="0"
      effort="0"
      velocity="0" />
  </joint>
  <link
    name="Link10_AxisRy_Hips_Flexion">
    <inertial>
      <origin
        xyz="-0.035491858736204 0.000913918322320435 0.018194719601768"
        rpy="0 0 0" />
      <mass
        value="0.154615097187712" />
      <inertia
        ixx="0.000129284073057895"
        ixy="5.95413093632001E-06"
        ixz="-4.73243723374354E-06"
        iyy="0.000183034354985313"
        iyz="5.3222893380836E-06"
        izz="7.52482691085157E-05" />
    </inertial>
    <visual>
      <origin
        xyz="0 0 0"
        rpy="0 0 0" />
      <geometry>
        <mesh
          filename="package://CLOVIS25_URDF_Assembly_V1_With_Arms/meshes/Link10_AxisRy_Hips_Flexion.STL" />
      </geometry>
      <material
        name="">
        <color
          rgba="0.752941176470588 0.752941176470588 0.752941176470588 1" />
      </material>
    </visual>
    <collision>
      <origin
        xyz="0 0 0"
        rpy="0 0 0" />
      <geometry>
        <mesh
          filename="package://CLOVIS25_URDF_Assembly_V1_With_Arms/meshes/Link10_AxisRy_Hips_Flexion.STL" />
      </geometry>
    </collision>
  </link>
  <joint
    name="R10_AxisRy_Hips_Flexion"
    type="revolute">
    <origin
      xyz="0.058997 0 -0.036813"
      rpy="0 -0.5236 3.1416" />
    <parent
      link="base_link_R0_HipsWaist_Yaw" />
    <child
      link="Link10_AxisRy_Hips_Flexion" />
    <axis
      xyz="-1 0 0" />
    <limit
      lower="-1.396"
      upper="1.396"
      effort="3.66"
      velocity="5.05" />
  </joint>
  <link
    name="Link11_AxisRx_Hips_Abduction">
    <inertial>
      <origin
        xyz="-0.000420686937343747 -0.0141524399660883 0.0464372807980134"
        rpy="0 0 0" />
      <mass
        value="0.168812815651825" />
      <inertia
        ixx="0.000116232359472686"
        ixy="-3.41286272029201E-06"
        ixz="-2.94169778032604E-06"
        iyy="0.000163337696614815"
        iyz="-2.55918774884189E-05"
        izz="0.000177818098522985" />
    </inertial>
    <visual>
      <origin
        xyz="0 0 0"
        rpy="0 0 0" />
      <geometry>
        <mesh
          filename="package://CLOVIS25_URDF_Assembly_V1_With_Arms/meshes/Link11_AxisRx_Hips_Abduction.STL" />
      </geometry>
      <material
        name="">
        <color
          rgba="0.752941176470588 0.752941176470588 0.752941176470588 1" />
      </material>
    </visual>
    <collision>
      <origin
        xyz="0 0 0"
        rpy="0 0 0" />
      <geometry>
        <mesh
          filename="package://CLOVIS25_URDF_Assembly_V1_With_Arms/meshes/Link11_AxisRx_Hips_Abduction.STL" />
      </geometry>
    </collision>
  </link>
  <joint
    name="R11_AxisRx_Hips_Abduction"
    type="revolute">
    <origin
      xyz="-0.0395 0 0"
      rpy="3.14159265358979 0 1.5707963267949" />
    <parent
      link="Link10_AxisRy_Hips_Flexion" />
    <child
      link="Link11_AxisRx_Hips_Abduction" />
    <axis
      xyz="1 0 0" />
    <limit
      lower="-0.436"
      upper="1.047"
      effort="3.66"
      velocity="5.05" />
  </joint>
  <link
    name="Link12_AxisRz_Hips_Rotation">
    <inertial>
      <origin
        xyz="0.029986520986284 0.000915006997885423 0.039584091405729"
        rpy="0 0 0" />
      <mass
        value="0.308889411660343" />
      <inertia
        ixx="0.000258352042231295"
        ixy="-1.20179858895001E-05"
        ixz="-2.22319994921139E-05"
        iyy="0.000446775467586572"
        iyz="2.53945341205301E-05"
        izz="0.000299366843256735" />
    </inertial>
    <visual>
      <origin
        xyz="0 0 0"
        rpy="0 0 0" />
      <geometry>
        <mesh
          filename="package://CLOVIS25_URDF_Assembly_V1_With_Arms/meshes/Link12_AxisRz_Hips_Rotation.STL" />
      </geometry>
      <material
        name="">
        <color
          rgba="0.752941176470588 0.752941176470588 0.752941176470588 1" />
      </material>
    </visual>
    <collision>
      <origin
        xyz="0 0 0"
        rpy="0 0 0" />
      <geometry>
        <mesh
          filename="package://CLOVIS25_URDF_Assembly_V1_With_Arms/meshes/Link12_AxisRz_Hips_Rotation.STL" />
      </geometry>
    </collision>
  </link>
  <joint
    name="R12_AxisRz_Hips_Rotation"
    type="revolute">
    <origin
      xyz="0.000499999999999946 -0.0407499999999995 0.0705810704084321"
      rpy="-0.523598775598292 0 3.14159265358979" />
    <parent
      link="Link11_AxisRx_Hips_Abduction" />
    <child
      link="Link12_AxisRz_Hips_Rotation" />
    <axis
      xyz="0 0 -1" />
    <limit
      lower="-1.222"
      upper="1.571"
      effort="3.66"
      velocity="5.05" />
  </joint>
  <link
    name="Link13_AxisRy_Knee_Flexion">
    <inertial>
      <origin
        xyz="-0.00996165884627892 -3.95525887111892E-07 -0.0737094687999739"
        rpy="0 0 0" />
      <mass
        value="0.20810093518798" />
      <inertia
        ixx="0.000251269487093237"
        ixy="8.57301270576157E-11"
        ixz="5.3734439372394E-06"
        iyy="0.000240506181571732"
        iyz="1.05076278008835E-09"
        izz="7.36271056526116E-05" />
    </inertial>
    <visual>
      <origin
        xyz="0 0 0"
        rpy="0 0 0" />
      <geometry>
        <mesh
          filename="package://CLOVIS25_URDF_Assembly_V1_With_Arms/meshes/Link13_AxisRy_Knee_Flexion.STL" />
      </geometry>
      <material
        name="">
        <color
          rgba="0.752941176470588 0.752941176470588 0.752941176470588 1" />
      </material>
    </visual>
    <collision>
      <origin
        xyz="0 0 0"
        rpy="0 0 0" />
      <geometry>
        <mesh
          filename="package://CLOVIS25_URDF_Assembly_V1_With_Arms/meshes/Link13_AxisRy_Knee_Flexion.STL" />
      </geometry>
    </collision>
  </link>
  <joint
    name="R13_AxisRy_Knee_Flexion"
    type="revolute">
    <origin
      xyz="0 0 0.036"
      rpy="3.14159265358979 0 -3.14159265358979" />
    <parent
      link="Link12_AxisRz_Hips_Rotation" />
    <child
      link="Link13_AxisRy_Knee_Flexion" />
    <axis
      xyz="0 -1 0" />
    <limit
      lower="0"
      upper="2.094"
      effort="3.66"
      velocity="5.05" />
  </joint>
  <link
    name="Link14_AxisRy_Ankle_Flexion">
    <inertial>
      <origin
        xyz="4.88789106049154E-05 -4.22901893046279E-07 -0.000941696331463626"
        rpy="0 0 0" />
      <mass
        value="0.0198828974134901" />
      <inertia
        ixx="5.33136120702503E-06"
        ixy="5.67526433369967E-11"
        ixz="6.76121728274984E-09"
        iyy="3.84427573974655E-06"
        iyz="4.02949645568128E-12"
        izz="8.29733415735585E-06" />
    </inertial>
    <visual>
      <origin
        xyz="0 0 0"
        rpy="0 0 0" />
      <geometry>
        <mesh
          filename="package://CLOVIS25_URDF_Assembly_V1_With_Arms/meshes/Link14_AxisRy_Ankle_Flexion.STL" />
      </geometry>
      <material
        name="">
        <color
          rgba="0.752941176470588 0.752941176470588 0.752941176470588 1" />
      </material>
    </visual>
    <collision>
      <origin
        xyz="0 0 0"
        rpy="0 0 0" />
      <geometry>
        <mesh
          filename="package://CLOVIS25_URDF_Assembly_V1_With_Arms/meshes/Link14_AxisRy_Ankle_Flexion.STL" />
      </geometry>
    </collision>
  </link>
  <joint
    name="R14_AxisRy_Ankle_Flexion"
    type="revolute">
    <origin
      xyz="0 0 -0.14"
      rpy="0 0 0" />
    <parent
      link="Link13_AxisRy_Knee_Flexion" />
    <child
      link="Link14_AxisRy_Ankle_Flexion" />
    <axis
      xyz="0 1 0" />
    <limit
      lower="-0.96"
      upper="0.698"
      effort="3.66"
      velocity="5.05" />
  </joint>
  <link
    name="Link15_AxisRx_Ankle_Abduction">
    <inertial>
      <origin
        xyz="-0.00749525839369256 -1.00190964788527E-07 -0.0413958069840309"
        rpy="0 0 0" />
      <mass
        value="0.162069791623734" />
      <inertia
        ixx="8.37583833186821E-05"
        ixy="9.35731632641608E-11"
        ixz="5.76979843466876E-06"
        iyy="0.000111745804529979"
        iyz="5.47643800067597E-10"
        izz="0.000127010438609888" />
    </inertial>
    <visual>
      <origin
        xyz="0 0 0"
        rpy="0 0 0" />
      <geometry>
        <mesh
          filename="package://CLOVIS25_URDF_Assembly_V1_With_Arms/meshes/Link15_AxisRx_Ankle_Abduction.STL" />
      </geometry>
      <material
        name="">
        <color
          rgba="0.752941176470588 0.752941176470588 0.752941176470588 1" />
      </material>
    </visual>
    <collision>
      <origin
        xyz="0 0 0"
        rpy="0 0 0" />
      <geometry>
        <mesh
          filename="package://CLOVIS25_URDF_Assembly_V1_With_Arms/meshes/Link15_AxisRx_Ankle_Abduction.STL" />
      </geometry>
    </collision>
  </link>
  <joint
    name="R15_AxisRx_Ankle_Abduction"
    type="revolute">
    <origin
      xyz="0 0 0"
      rpy="0 0 -3.14159265358979" />
    <parent
      link="Link14_AxisRy_Ankle_Flexion" />
    <child
      link="Link15_AxisRx_Ankle_Abduction" />
    <axis
      xyz="1 0 0" />
    <limit
      lower="-0.96"
      upper="0.96"
      effort="3.66"
      velocity="5.05" />
  </joint>
  <link
    name="Link16_AxisRx_Toe_Flexion">
    <inertial>
      <origin
        xyz="0.0181977115240334 0.00126288994199182 -0.00954659053967732"
        rpy="0 0 0" />
      <mass
        value="0.0664189830579757" />
      <inertia
        ixx="3.9575421565876E-05"
        ixy="-1.39838716866601E-06"
        ixz="4.60537840513915E-06"
        iyy="2.87049416190121E-05"
        iyz="-1.28510150087997E-07"
        izz="5.6352915404693E-05" />
    </inertial>
    <visual>
      <origin
        xyz="0 0 0"
        rpy="0 0 0" />
      <geometry>
        <mesh
          filename="package://CLOVIS25_URDF_Assembly_V1_With_Arms/meshes/Link16_AxisRx_Toe_Flexion.STL" />
      </geometry>
      <material
        name="">
        <color
          rgba="0.752941176470588 0.752941176470588 0.752941176470588 1" />
      </material>
    </visual>
    <collision>
      <origin
        xyz="0 0 0"
        rpy="0 0 0" />
      <geometry>
        <mesh
          filename="package://CLOVIS25_URDF_Assembly_V1_With_Arms/meshes/Link16_AxisRx_Toe_Flexion.STL" />
      </geometry>
    </collision>
  </link>
  <joint
    name="R16_AxisRx_Toe_Flexion"
    type="revolute">
    <origin
      xyz="0.055 0 -0.0425"
      rpy="0 0 0" />
    <parent
      link="Link15_AxisRx_Ankle_Abduction" />
    <child
      link="Link16_AxisRx_Toe_Flexion" />
    <axis
      xyz="0 1 0" />
    <limit
      lower="-0.785"
      upper="0"
      effort="0.44"
      velocity="5.05" />
  </joint>
  <link
    name="Link20_AxisRy_Hips_Flexion">
    <inertial>
      <origin
        xyz="-0.0191695238748907 -0.00104952349483888 -0.0352473021715193"
        rpy="0 0 0" />
      <mass
        value="0.150034857109825" />
      <inertia
        ixx="7.41467834211886E-05"
        ixy="4.27066915988223E-06"
        ixz="4.19048433769206E-06"
        iyy="0.000175384510459711"
        iyz="-5.87188592248189E-06"
        izz="0.000122352676232008" />
    </inertial>
    <visual>
      <origin
        xyz="0 0 0"
        rpy="0 0 0" />
      <geometry>
        <mesh
          filename="package://CLOVIS25_URDF_Assembly_V1_With_Arms/meshes/Link20_AxisRy_Hips_Flexion.STL" />
      </geometry>
      <material
        name="">
        <color
          rgba="0.752941176470588 0.752941176470588 0.752941176470588 1" />
      </material>
    </visual>
    <collision>
      <origin
        xyz="0 0 0"
        rpy="0 0 0" />
      <geometry>
        <mesh
          filename="package://CLOVIS25_URDF_Assembly_V1_With_Arms/meshes/Link20_AxisRy_Hips_Flexion.STL" />
      </geometry>
    </collision>
  </link>
  <joint
    name="R20_AxisRy_Hips_Flexion"
    type="revolute">
    <origin
      xyz="-0.0589974226119289 0 -0.0368134665205265"
      rpy="0 1.0471975511966 0" />
    <parent
      link="base_link_R0_HipsWaist_Yaw" />
    <child
      link="Link20_AxisRy_Hips_Flexion" />
    <axis
      xyz="0 0 1" />
    <limit
      lower="-1.396"
      upper="1.396"
      effort="3.66"
      velocity="5.05" />
  </joint>
  <link
    name="Link21_AxisRx_Hips_Abduction">
    <inertial>
      <origin
        xyz="0.00042158596077015 -0.0109610923852847 -0.0472922255513191"
        rpy="0 0 0" />
      <mass
        value="0.168809122055464" />
      <inertia
        ixx="0.000116232144999569"
        ixy="-4.42363621138769E-06"
        ixz="-8.40343454054993E-07"
        iyy="0.000144789714142267"
        iyz="-6.52548921967782E-06"
        izz="0.000196356223785667" />
    </inertial>
    <visual>
      <origin
        xyz="0 0 0"
        rpy="0 0 0" />
      <geometry>
        <mesh
          filename="package://CLOVIS25_URDF_Assembly_V1_With_Arms/meshes/Link21_AxisRx_Hips_Abduction.STL" />
      </geometry>
      <material
        name="">
        <color
          rgba="0.752941176470588 0.752941176470588 0.752941176470588 1" />
      </material>
    </visual>
    <collision>
      <origin
        xyz="0 0 0"
        rpy="0 0 0" />
      <geometry>
        <mesh
          filename="package://CLOVIS25_URDF_Assembly_V1_With_Arms/meshes/Link21_AxisRx_Hips_Abduction.STL" />
      </geometry>
    </collision>
  </link>
  <joint
    name="R21_AxisRx_Hips_Abduction"
    type="revolute">
    <origin
      xyz="0 0 -0.0395000000000001"
      rpy="-1.0471975511966 0 1.5707963267949" />
    <parent
      link="Link20_AxisRy_Hips_Flexion" />
    <child
      link="Link21_AxisRx_Hips_Abduction" />
    <axis
      xyz="-1 0 0" />
    <limit
      lower="-0.436"
      upper="1.047"
      effort="3.66"
      velocity="5.05" />
  </joint>
  <link
    name="Link22_AxisRz_Hips_Rotation">
    <inertial>
      <origin
        xyz="0.0299866277473481 -0.000913351495267445 0.0395841441494932"
        rpy="0 0 0" />
      <mass
        value="0.308888997868642" />
      <inertia
        ixx="0.000258350925684757"
        ixy="1.20182401296459E-05"
        ixz="-2.22308950807633E-05"
        iyy="0.000446773838834894"
        iyz="-2.53944021702335E-05"
        izz="0.00029936501568538" />
    </inertial>
    <visual>
      <origin
        xyz="0 0 0"
        rpy="0 0 0" />
      <geometry>
        <mesh
          filename="package://CLOVIS25_URDF_Assembly_V1_With_Arms/meshes/Link22_AxisRz_Hips_Rotation.STL" />
      </geometry>
      <material
        name="">
        <color
          rgba="0.752941176470588 0.752941176470588 0.752941176470588 1" />
      </material>
    </visual>
    <collision>
      <origin
        xyz="0 0 0"
        rpy="0 0 0" />
      <geometry>
        <mesh
          filename="package://CLOVIS25_URDF_Assembly_V1_With_Arms/meshes/Link22_AxisRz_Hips_Rotation.STL" />
      </geometry>
    </collision>
  </link>
  <joint
    name="R22_AxisRz_Hips_Rotation"
    type="revolute">
    <origin
      xyz="-0.000500000000000035 0 -0.0815000000000001"
      rpy="3.14159265358979 0 0" />
    <parent
      link="Link21_AxisRx_Hips_Abduction" />
    <child
      link="Link22_AxisRz_Hips_Rotation" />
    <axis
      xyz="0 0 -1" />
    <limit
      lower="-1.222"
      upper="1.571"
      effort="3.66"
      velocity="5.05" />
  </joint>
  <link
    name="Link23_AxisRy_Knee_Flexion">
    <inertial>
      <origin
        xyz="0.00996165887106261 3.95160131366756E-07 -0.0737094687119398"
        rpy="0 0 0" />
      <mass
        value="0.208100936749786" />
      <inertia
        ixx="0.000251269487849732"
        ixy="8.58282830613431E-11"
        ixz="-5.37344399965001E-06"
        iyy="0.000240506181810468"
        iyz="-1.05041562388345E-09"
        izz="7.36271062058327E-05" />
    </inertial>
    <visual>
      <origin
        xyz="0 0 0"
        rpy="0 0 0" />
      <geometry>
        <mesh
          filename="package://CLOVIS25_URDF_Assembly_V1_With_Arms/meshes/Link23_AxisRy_Knee_Flexion.STL" />
      </geometry>
      <material
        name="">
        <color
          rgba="0.752941176470588 0.752941176470588 0.752941176470588 1" />
      </material>
    </visual>
    <collision>
      <origin
        xyz="0 0 0"
        rpy="0 0 0" />
      <geometry>
        <mesh
          filename="package://CLOVIS25_URDF_Assembly_V1_With_Arms/meshes/Link23_AxisRy_Knee_Flexion.STL" />
      </geometry>
    </collision>
  </link>
  <joint
    name="R23_AxisRy_Knee_Flexion"
    type="revolute">
    <origin
      xyz="0 0 0.0360000000000001"
      rpy="-3.14159265358979 0 0" />
    <parent
      link="Link22_AxisRz_Hips_Rotation" />
    <child
      link="Link23_AxisRy_Knee_Flexion" />
    <axis
      xyz="0 1 0" />
    <limit
      lower="0"
      upper="2.094"
      effort="3.66"
      velocity="5.05" />
  </joint>
  <link
    name="Link24_AxisRy_Ankle_Flexion">
    <inertial>
      <origin
        xyz="-4.88788155061328E-05 4.2289045533439E-07 -0.000941696318086993"
        rpy="0 0 0" />
      <mass
        value="0.0198828972990002" />
      <inertia
        ixx="5.33136120560905E-06"
        ixy="5.67486535157324E-11"
        ixz="-6.76121286353298E-09"
        iyy="3.84427570506981E-06"
        iyz="-4.03028590672082E-12"
        izz="8.29733412364016E-06" />
    </inertial>
    <visual>
      <origin
        xyz="0 0 0"
        rpy="0 0 0" />
      <geometry>
        <mesh
          filename="package://CLOVIS25_URDF_Assembly_V1_With_Arms/meshes/Link24_AxisRy_Ankle_Flexion.STL" />
      </geometry>
      <material
        name="">
        <color
          rgba="0.752941176470588 0.752941176470588 0.752941176470588 1" />
      </material>
    </visual>
    <collision>
      <origin
        xyz="0 0 0"
        rpy="0 0 0" />
      <geometry>
        <mesh
          filename="package://CLOVIS25_URDF_Assembly_V1_With_Arms/meshes/Link24_AxisRy_Ankle_Flexion.STL" />
      </geometry>
    </collision>
  </link>
  <joint
    name="R24_AxisRy_Ankle_Flexion"
    type="revolute">
    <origin
      xyz="0 0 -0.14"
      rpy="0 0 0" />
    <parent
      link="Link23_AxisRy_Knee_Flexion" />
    <child
      link="Link24_AxisRy_Ankle_Flexion" />
    <axis
      xyz="0 1 0" />
    <limit
      lower="-0.96"
      upper="0.689"
      effort="3.66"
      velocity="5.05" />
  </joint>
  <link
    name="Link25_AxisRx_Ankle_Abduction">
    <inertial>
      <origin
        xyz="-0.00749525839677827 -1.00189232965509E-07 -0.0413958069745799"
        rpy="0 0 0" />
      <mass
        value="0.162069791661843" />
      <inertia
        ixx="8.37583831864788E-05"
        ixy="9.35835758800885E-11"
        ixz="5.76979848237024E-06"
        iyy="0.000111745804626165"
        iyz="5.47634485585817E-10"
        izz="0.000127010438487016" />
    </inertial>
    <visual>
      <origin
        xyz="0 0 0"
        rpy="0 0 0" />
      <geometry>
        <mesh
          filename="package://CLOVIS25_URDF_Assembly_V1_With_Arms/meshes/Link25_AxisRx_Ankle_Abduction.STL" />
      </geometry>
      <material
        name="">
        <color
          rgba="0.752941176470588 0.752941176470588 0.752941176470588 1" />
      </material>
    </visual>
    <collision>
      <origin
        xyz="0 0 0"
        rpy="0 0 0" />
      <geometry>
        <mesh
          filename="package://CLOVIS25_URDF_Assembly_V1_With_Arms/meshes/Link25_AxisRx_Ankle_Abduction.STL" />
      </geometry>
    </collision>
  </link>
  <joint
    name="R25_AxisRx_Ankle_Abduction"
    type="revolute">
    <origin
      xyz="0 0 0"
      rpy="0 0 0" />
    <parent
      link="Link24_AxisRy_Ankle_Flexion" />
    <child
      link="Link25_AxisRx_Ankle_Abduction" />
    <axis
      xyz="1 0 0" />
    <limit
      lower="-0.96"
      upper="0.96"
      effort="3.66"
      velocity="5.05" />
  </joint>
  <link
    name="Link26_AxisRx_Toe_Flexion">
    <inertial>
      <origin
        xyz="0.0181977115240336 0.00126288994199179 -0.00954659053967744"
        rpy="0 0 0" />
      <mass
        value="0.066418983057976" />
      <inertia
        ixx="3.95754215658759E-05"
        ixy="-1.39838716866599E-06"
        ixz="4.60537840513909E-06"
        iyy="2.87049416190122E-05"
        iyz="-1.28510150088011E-07"
        izz="5.63529154046931E-05" />
    </inertial>
    <visual>
      <origin
        xyz="0 0 0"
        rpy="0 0 0" />
      <geometry>
        <mesh
          filename="package://CLOVIS25_URDF_Assembly_V1_With_Arms/meshes/Link26_AxisRx_Toe_Flexion.STL" />
      </geometry>
      <material
        name="">
        <color
          rgba="0.752941176470588 0.752941176470588 0.752941176470588 1" />
      </material>
    </visual>
    <collision>
      <origin
        xyz="0 0 0"
        rpy="0 0 0" />
      <geometry>
        <mesh
          filename="package://CLOVIS25_URDF_Assembly_V1_With_Arms/meshes/Link26_AxisRx_Toe_Flexion.STL" />
      </geometry>
    </collision>
  </link>
  <joint
    name="R26_AxisRx_Toe_Flexion"
    type="revolute">
    <origin
      xyz="0.0550000000000001 0 -0.0425"
      rpy="0 0 0" />
    <parent
      link="Link25_AxisRx_Ankle_Abduction" />
    <child
      link="Link26_AxisRx_Toe_Flexion" />
    <axis
      xyz="0 1 0" />
    <limit
      lower="-0.785"
      upper="0.96"
      effort="0.44"
      velocity="5.05" />
  </joint>
</robot>
